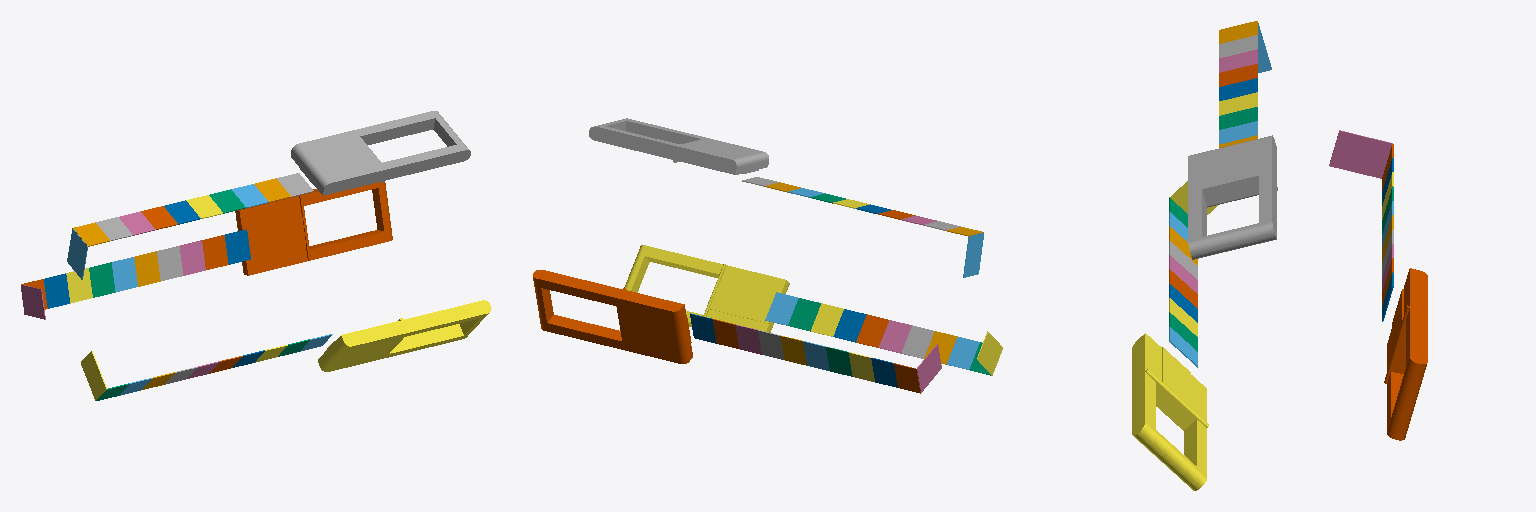
--- Render facts (derived) ---
Views: 3 orthographic renders of the robot side by side, from view 1: azimuth 30°, elevation 25°; view 2: azimuth 150°, elevation 25°; view 3: azimuth 270°, elevation 25°.
Robot: panda_and_gripper — 51 links, 50 joints (37 revolute, 4 prismatic, 9 fixed); root link world; default pose: joints at zero except 4 at the middle of their limits (panda_joint4 = -1.57, finger_1_prismatic_joint = 0.0915, finger_2_prismatic_joint = 0.0915, finger_3_prismatic_joint = 0.0915).
Links seen in each view (by area): view 1: finger_3, finger_2, finger_1, finger_2_segment_link_3, finger_2_segment_link_5, finger_2_segment_link_7, finger_2_segment_link_1, finger_2_segment_link_9, finger_2_segment_link_2, finger_2_segment_link_4, finger_2_segment_link_6, finger_2_segment_link_8 (+3 smaller); view 2: finger_2, finger_1, finger_3, finger_1_segment_link_1, finger_1_segment_link_3, finger_1_segment_link_5, finger_1_segment_link_7, finger_1_segment_link_2, finger_1_segment_link_6, finger_1_segment_link_4, finger_1_segment_link_9, finger_3_finger_hook_link (+13 smaller); view 3: finger_3, finger_1, finger_2, finger_2_finger_hook_link, finger_3_segment_link_5, finger_3_segment_link_8, finger_3_segment_link_4, finger_3_segment_link_9, finger_3_segment_link_3, finger_3_segment_link_6, finger_3_segment_link_7, finger_3_segment_link_10.
Boxes of the visible links, x1,y1,x2,y2 form: finger_3: (291,111,470,195); finger_2: (235,182,392,275); finger_1: (318,300,491,371); finger_2_segment_link_3: (179,240,205,275); finger_2_segment_link_5: (134,251,160,286); finger_2_segment_link_7: (89,262,115,297); finger_2_segment_link_1: (225,229,250,264); finger_2_segment_link_9: (44,273,69,308); finger_2_segment_link_2: (202,235,228,269); finger_2_segment_link_4: (157,246,182,280); finger_2_segment_link_6: (112,257,137,291); finger_2_segment_link_8: (66,268,92,303); finger_2: (533,270,692,363); finger_1: (624,245,789,332); finger_3: (589,118,768,174); finger_1_segment_link_1: (765,292,798,325); finger_1_segment_link_3: (811,303,843,336); finger_1_segment_link_5: (856,314,888,347); finger_1_segment_link_7: (901,325,934,358); finger_1_segment_link_2: (788,298,820,331); finger_1_segment_link_6: (879,320,911,353); finger_1_segment_link_4: (833,309,866,342); finger_1_segment_link_9: (947,337,979,369); finger_3_finger_hook_link: (963,233,983,277); finger_3: (1188,135,1277,259); finger_1: (1132,333,1208,490); finger_2: (1384,268,1427,440); finger_2_finger_hook_link: (1329,130,1392,178); finger_3_segment_link_5: (1219,92,1257,115); finger_3_segment_link_8: (1219,49,1257,72); finger_3_segment_link_4: (1219,107,1257,129); finger_3_segment_link_9: (1219,35,1257,57); finger_3_segment_link_3: (1219,121,1257,143); finger_3_segment_link_6: (1219,78,1257,100); finger_3_segment_link_7: (1219,64,1257,86); finger_3_segment_link_10: (1219,21,1257,43).
Bounding box of the posed robot: 0.3875 × 0.2047 × 0.205 m (x, y, z).
Meshes: 12 distinct files referenced, 3 mesh visuals loaded (1 binary STL); not drawn: 13 (reference not matched to a file when rendering).

URDF robot description (panda_and_gripper):
<?xml version="1.0" ?>
<!-- =================================================================================== -->
<!-- |    This document was autogenerated by xacro from xacro/panda_and_gripper_mujoco.urdf.xacro | -->
<!-- |    EDITING THIS FILE BY HAND IS NOT RECOMMENDED                                 | -->
<!-- =================================================================================== -->
<robot name="panda_and_gripper">
  <mujoco>
    <compiler balanceinertia="true" discardvisual="false" meshdir="./meshes_mujoco/"/>
    <size nconmax="800" njmax="3400"/>
  </mujoco>
  <!-- rest of file should be identical to panda_and_gripper.urdf.xacro -->
  <!-- <link name="world" />
    <xacro:unless value="${not connected_to}">
      <joint name="virtual_joint" type="fixed">
        <parent link="${connected_to}"/>
        <child link="${arm_id}_link0"/>
        <origin rpy="${rpy}" xyz="${xyz}"/>
        <dynamics damping="1.0"/>
      </joint>
    </xacro:unless> -->
  <!-- PARAMETERS TO SET BY HAND -->
  <!-- END OF PARAMETERS TO SET BY HAND -->
  <!-- original working mesh links -->
  <!--    <xacro:arm_link number="0" visual_mesh="package://${mesh_folder}/visual/link0.dae"-->
  <!--      collision_mesh="package://${mesh_folder}/collision/link0.stl" mass="3.06"/>-->
  <!--    <xacro:arm_link number="1" visual_mesh="package://${mesh_folder}/visual/link1.dae"-->
  <!--      collision_mesh="package://${mesh_folder}/collision/link1.stl" mass="2.34"/>-->
  <!--    <xacro:arm_link number="2" visual_mesh="package://${mesh_folder}/visual/link2.dae"-->
  <!--      collision_mesh="package://${mesh_folder}/collision/link2.stl" mass="2.36"/>-->
  <!--    <xacro:arm_link number="3" visual_mesh="package://${mesh_folder}/visual/link3.dae"-->
  <!--      collision_mesh="package://${mesh_folder}/collision/link3.stl" mass="2.38"/>-->
  <!--    <xacro:arm_link number="4" visual_mesh="package://${mesh_folder}/visual/link4.dae"-->
  <!--      collision_mesh="package://${mesh_folder}/collision/link4.stl" mass="2.43"/>-->
  <!--    <xacro:arm_link number="5" visual_mesh="package://${mesh_folder}/visual/link5.dae"-->
  <!--      collision_mesh="package://${mesh_folder}/collision/link5.stl" mass="3.5"/>-->
  <!--    <xacro:arm_link number="6" visual_mesh="package://${mesh_folder}/visual/link6.dae"-->
  <!--      collision_mesh="package://${mesh_folder}/collision/link6.stl" mass="1.47"/>-->
  <!--    <xacro:arm_link number="7" visual_mesh="package://${mesh_folder}/visual/link7.dae"-->
  <!--      collision_mesh="package://${mesh_folder}/collision/link7.stl" mass="0.45"/>-->
  <!--     <xacro:arm_link number="8"/>-->
  <link name="panda_link0">
    <visual>
      <geometry>
        <mesh filename="package://gripper_description/meshes_panda/panda visual link0.stl"/>
      </geometry>
    </visual>
    <collision>
      <geometry>
        <mesh filename="package://gripper_description/meshes_panda/panda collision link0.stl"/>
      </geometry>
    </collision>
    <inertial>
      <origin rpy="0 0 0" xyz="0 0 0"/>
      <mass value="3.06"/>
      <inertia ixx="0.3" ixy="0.0" ixz="0.0" iyy="0.3" iyz="0.0" izz="0.3"/>
    </inertial>
  </link>
  <link name="panda_link1">
    <visual>
      <geometry>
        <mesh filename="package://gripper_description/meshes_panda/panda visual link1.stl"/>
      </geometry>
    </visual>
    <collision>
      <geometry>
        <mesh filename="package://gripper_description/meshes_panda/panda collision link1.stl"/>
      </geometry>
    </collision>
    <inertial>
      <origin rpy="0 0 0" xyz="0 0 0"/>
      <mass value="2.34"/>
      <inertia ixx="7.0337e-01" ixy="-1.3900e-04" ixz="6.7720e-03" iyy="7.0661e-01" iyz="1.9169e-02" izz="9.1170e-03"/>
    </inertial>
  </link>
  <link name="panda_link2">
    <visual>
      <geometry>
        <mesh filename="package://gripper_description/meshes_panda/panda visual link2.stl"/>
      </geometry>
    </visual>
    <collision>
      <geometry>
        <mesh filename="package://gripper_description/meshes_panda/panda collision link2.stl"/>
      </geometry>
    </collision>
    <inertial>
      <origin rpy="0 0 0" xyz="0 0 0"/>
      <mass value="2.36"/>
      <inertia ixx="7.9620e-03" ixy="-3.9250e-03" ixz="1.0254e-02" iyy="2.8110e-02" iyz="7.0400e-04" izz="2.5995e-02"/>
    </inertial>
  </link>
  <link name="panda_link3">
    <visual>
      <geometry>
        <mesh filename="package://gripper_description/meshes_panda/panda visual link3.stl"/>
      </geometry>
    </visual>
    <collision>
      <geometry>
        <mesh filename="package://gripper_description/meshes_panda/panda collision link3.stl"/>
      </geometry>
    </collision>
    <inertial>
      <origin rpy="0 0 0" xyz="0 0 0"/>
      <mass value="2.38"/>
      <inertia ixx="3.7242e-02" ixy="-4.7610e-03" ixz="-1.1396e-02" iyy="3.6155e-02" iyz="-1.2805e-02" izz="1.0830e-02"/>
    </inertial>
  </link>
  <link name="panda_link4">
    <visual>
      <geometry>
        <mesh filename="package://gripper_description/meshes_panda/panda visual link4.stl"/>
      </geometry>
    </visual>
    <collision>
      <geometry>
        <mesh filename="package://gripper_description/meshes_panda/panda collision link4.stl"/>
      </geometry>
    </collision>
    <inertial>
      <origin rpy="0 0 0" xyz="0 0 0"/>
      <mass value="2.43"/>
      <inertia ixx="2.5853e-02" ixy="7.7960e-03" ixz="-1.3320e-03" iyy="1.9552e-02" iyz="8.6410e-03" izz="2.8323e-02"/>
    </inertial>
  </link>
  <link name="panda_link5">
    <visual>
      <geometry>
        <mesh filename="package://gripper_description/meshes_panda/panda visual link5.stl"/>
      </geometry>
    </visual>
    <collision>
      <geometry>
        <mesh filename="package://gripper_description/meshes_panda/panda collision link5.stl"/>
      </geometry>
    </collision>
    <inertial>
      <origin rpy="0 0 0" xyz="0 0 0"/>
      <mass value="3.5"/>
      <inertia ixx="3.5549e-02" ixy="-2.1170e-03" ixz="-4.0370e-03" iyy="2.9474e-02" iyz="2.2900e-04" izz="8.6270e-03"/>
    </inertial>
  </link>
  <link name="panda_link6">
    <visual>
      <geometry>
        <mesh filename="package://gripper_description/meshes_panda/panda visual link6.stl"/>
      </geometry>
    </visual>
    <collision>
      <geometry>
        <mesh filename="package://gripper_description/meshes_panda/panda collision link6.stl"/>
      </geometry>
    </collision>
    <inertial>
      <origin rpy="0 0 0" xyz="0 0 0"/>
      <mass value="1.47"/>
      <inertia ixx="1.9640e-03" ixy="1.0900e-04" ixz="-1.1580e-03" iyy="4.3540e-03" iyz="3.4100e-04" izz="5.4330e-03"/>
    </inertial>
  </link>
  <link name="panda_link7">
    <visual>
      <geometry>
        <mesh filename="package://gripper_description/meshes_panda/panda visual link7.stl"/>
      </geometry>
    </visual>
    <collision>
      <geometry>
        <mesh filename="package://gripper_description/meshes_panda/panda collision link7.stl"/>
      </geometry>
    </collision>
    <inertial>
      <origin rpy="0 0 0" xyz="0 0 0"/>
      <mass value="0.45"/>
      <inertia ixx="1.2516e-02" ixy="-4.2800e-04" ixz="-1.1960e-03" iyy="1.0027e-02" iyz="-7.4100e-04" izz="4.8150e-03"/>
    </inertial>
  </link>
  <link name="panda_link8">
    <inertial>
      <origin rpy="0 0 0" xyz="0 0 0"/>
      <mass value="0.0"/>
      <inertia ixx="1e-4" ixy="0.0" ixz="0.0" iyy="1e-4" iyz="0.0" izz="1e-4"/>
    </inertial>
  </link>
  <!-- joint6 limit lower = -0.0175 -->
  <joint name="panda_joint1" type="revolute">
    <safety_controller k_position="100.0" k_velocity="40.0" soft_lower_limit="-2.8973" soft_upper_limit="2.8973"/>
    <origin rpy="0 0 0" xyz="0 0 0.333"/>
    <parent link="panda_link0"/>
    <child link="panda_link1"/>
    <limit effort="87" lower="-2.8973" upper="2.8973" velocity="2.175"/>
    <axis xyz="0 0 1"/>
    <dynamics damping="1.0" friction="0.1"/>
  </joint>
  <joint name="panda_joint2" type="revolute">
    <safety_controller k_position="100.0" k_velocity="40.0" soft_lower_limit="-1.7628" soft_upper_limit="1.7628"/>
    <origin rpy="-1.5707963267948966 0 0" xyz="0 0 0"/>
    <parent link="panda_link1"/>
    <child link="panda_link2"/>
    <limit effort="87" lower="-1.7628" upper="1.7628" velocity="2.175"/>
    <axis xyz="0 0 1"/>
    <dynamics damping="1.0" friction="0.1"/>
  </joint>
  <joint name="panda_joint3" type="revolute">
    <safety_controller k_position="100.0" k_velocity="40.0" soft_lower_limit="-2.8973" soft_upper_limit="2.8973"/>
    <origin rpy="1.5707963267948966 0 0" xyz="0 -0.316 0"/>
    <parent link="panda_link2"/>
    <child link="panda_link3"/>
    <limit effort="87" lower="-2.8973" upper="2.8973" velocity="2.175"/>
    <axis xyz="0 0 1"/>
    <dynamics damping="1.0" friction="0.1"/>
  </joint>
  <joint name="panda_joint4" type="revolute">
    <safety_controller k_position="100.0" k_velocity="40.0" soft_lower_limit="-3.0718" soft_upper_limit="-0.0698"/>
    <origin rpy="1.5707963267948966 0 0" xyz="0.0825 0 0"/>
    <parent link="panda_link3"/>
    <child link="panda_link4"/>
    <limit effort="87" lower="-3.0718" upper="-0.0698" velocity="2.175"/>
    <axis xyz="0 0 1"/>
    <dynamics damping="1.0" friction="0.1"/>
  </joint>
  <joint name="panda_joint5" type="revolute">
    <safety_controller k_position="100.0" k_velocity="40.0" soft_lower_limit="-2.8973" soft_upper_limit="2.8973"/>
    <origin rpy="-1.5707963267948966 0 0" xyz="-0.0825 0.384 0"/>
    <parent link="panda_link4"/>
    <child link="panda_link5"/>
    <limit effort="12" lower="-2.8973" upper="2.8973" velocity="2.61"/>
    <axis xyz="0 0 1"/>
    <dynamics damping="1.0" friction="0.1"/>
  </joint>
  <joint name="panda_joint6" type="revolute">
    <safety_controller k_position="100.0" k_velocity="40.0" soft_lower_limit="-0.0175" soft_upper_limit="3.7525"/>
    <origin rpy="1.5707963267948966 0 0" xyz="0 0 0"/>
    <parent link="panda_link5"/>
    <child link="panda_link6"/>
    <limit effort="12" lower="-0.0175" upper="3.7525" velocity="2.61"/>
    <axis xyz="0 0 1"/>
    <dynamics damping="1.0" friction="0.1"/>
  </joint>
  <joint name="panda_joint7" type="revolute">
    <safety_controller k_position="100.0" k_velocity="40.0" soft_lower_limit="-2.8973" soft_upper_limit="2.8973"/>
    <origin rpy="1.5707963267948966 0 0" xyz="0.088 0 0"/>
    <parent link="panda_link6"/>
    <child link="panda_link7"/>
    <limit effort="12" lower="-2.8973" upper="2.8973" velocity="2.61"/>
    <axis xyz="0 0 1"/>
    <dynamics damping="1.0" friction="0.1"/>
  </joint>
  <joint name="panda_joint8" type="fixed">
    <origin rpy="0 0 0" xyz="0 0 0.107"/>
    <parent link="panda_link7"/>
    <child link="panda_link8"/>
    <axis xyz="0 0 0"/>
    <dynamics damping="1.0" friction="0.1"/>
  </joint>
  <gazebo reference="panda_link0">
    <material>Gazebo/White</material>
    <mu1>0.2</mu1>
    <mu2>0.2</mu2>
  </gazebo>
  <gazebo reference="panda_link1">
    <material>Gazebo/White</material>
    <mu1>0.2</mu1>
    <mu2>0.2</mu2>
  </gazebo>
  <gazebo reference="panda_link2">
    <material>Gazebo/White</material>
    <mu1>0.2</mu1>
    <mu2>0.2</mu2>
  </gazebo>
  <gazebo reference="panda_link3">
    <material>Gazebo/White</material>
    <mu1>0.2</mu1>
    <mu2>0.2</mu2>
  </gazebo>
  <gazebo reference="panda_link4">
    <material>Gazebo/White</material>
    <mu1>0.2</mu1>
    <mu2>0.2</mu2>
  </gazebo>
  <gazebo reference="panda_link5">
    <material>Gazebo/White</material>
    <mu1>0.2</mu1>
    <mu2>0.2</mu2>
  </gazebo>
  <gazebo reference="panda_link6">
    <material>Gazebo/White</material>
    <mu1>0.2</mu1>
    <mu2>0.2</mu2>
  </gazebo>
  <gazebo reference="gripper_base_link">
    <material>Gazebo/Grey</material>
    <mu1>0.2</mu1>
    <mu2>0.2</mu2>
  </gazebo>
  <gazebo reference="finger_1_intermediate">
    <material>Gazebo/Grey</material>
    <mu1>0.2</mu1>
    <mu2>0.2</mu2>
  </gazebo>
  <gazebo reference="finger_1">
    <material>Gazebo/Grey</material>
    <mu1>0.2</mu1>
    <mu2>0.2</mu2>
  </gazebo>
  <gazebo reference="finger_2_intermediate">
    <material>Gazebo/Grey</material>
    <mu1>0.2</mu1>
    <mu2>0.2</mu2>
  </gazebo>
  <gazebo reference="finger_2">
    <material>Gazebo/Grey</material>
    <mu1>0.2</mu1>
    <mu2>0.2</mu2>
  </gazebo>
  <gazebo reference="finger_3_intermediate">
    <material>Gazebo/Grey</material>
    <mu1>0.2</mu1>
    <mu2>0.2</mu2>
  </gazebo>
  <gazebo reference="finger_3">
    <material>Gazebo/Grey</material>
    <mu1>0.2</mu1>
    <mu2>0.2</mu2>
  </gazebo>
  <gazebo reference="palm">
    <material>Gazebo/Grey</material>
    <mu1>0.2</mu1>
    <mu2>0.2</mu2>
  </gazebo>
  <transmission name="panda_tran_1">
    <type>transmission_interface/SimpleTransmission</type>
    <joint name="panda_joint1">
      <!-- <hardwareInterface>hardware_interface/EffortJointInterface</hardwareInterface> -->
      <hardwareInterface>hardware_interface/PositionJointInterface</hardwareInterface>
    </joint>
    <actuator name="panda_motor_1">
      <!-- <hardwareInterface>hardware_interface/EffortJointInterface</hardwareInterface> -->
      <hardwareInterface>hardware_interface/PositionJointInterface</hardwareInterface>
      <mechanicalReduction>1</mechanicalReduction>
    </actuator>
  </transmission>
  <transmission name="panda_tran_2">
    <type>transmission_interface/SimpleTransmission</type>
    <joint name="panda_joint2">
      <!-- <hardwareInterface>hardware_interface/EffortJointInterface</hardwareInterface> -->
      <hardwareInterface>hardware_interface/PositionJointInterface</hardwareInterface>
    </joint>
    <actuator name="panda_motor_2">
      <!-- <hardwareInterface>hardware_interface/EffortJointInterface</hardwareInterface> -->
      <hardwareInterface>hardware_interface/PositionJointInterface</hardwareInterface>
      <mechanicalReduction>1</mechanicalReduction>
    </actuator>
  </transmission>
  <transmission name="panda_tran_3">
    <type>transmission_interface/SimpleTransmission</type>
    <joint name="panda_joint3">
      <!-- <hardwareInterface>hardware_interface/EffortJointInterface</hardwareInterface> -->
      <hardwareInterface>hardware_interface/PositionJointInterface</hardwareInterface>
    </joint>
    <actuator name="panda_motor_3">
      <!-- <hardwareInterface>hardware_interface/EffortJointInterface</hardwareInterface> -->
      <hardwareInterface>hardware_interface/PositionJointInterface</hardwareInterface>
      <mechanicalReduction>1</mechanicalReduction>
    </actuator>
  </transmission>
  <transmission name="panda_tran_4">
    <type>transmission_interface/SimpleTransmission</type>
    <joint name="panda_joint4">
      <!-- <hardwareInterface>hardware_interface/EffortJointInterface</hardwareInterface> -->
      <hardwareInterface>hardware_interface/PositionJointInterface</hardwareInterface>
    </joint>
    <actuator name="panda_motor_4">
      <!-- <hardwareInterface>hardware_interface/EffortJointInterface</hardwareInterface> -->
      <hardwareInterface>hardware_interface/PositionJointInterface</hardwareInterface>
      <mechanicalReduction>1</mechanicalReduction>
    </actuator>
  </transmission>
  <transmission name="panda_tran_5">
    <type>transmission_interface/SimpleTransmission</type>
    <joint name="panda_joint5">
      <!-- <hardwareInterface>hardware_interface/EffortJointInterface</hardwareInterface> -->
      <hardwareInterface>hardware_interface/PositionJointInterface</hardwareInterface>
    </joint>
    <actuator name="panda_motor_5">
      <!-- <hardwareInterface>hardware_interface/EffortJointInterface</hardwareInterface> -->
      <hardwareInterface>hardware_interface/PositionJointInterface</hardwareInterface>
      <mechanicalReduction>1</mechanicalReduction>
    </actuator>
  </transmission>
  <transmission name="panda_tran_6">
    <type>transmission_interface/SimpleTransmission</type>
    <joint name="panda_joint6">
      <!-- <hardwareInterface>hardware_interface/EffortJointInterface</hardwareInterface> -->
      <hardwareInterface>hardware_interface/PositionJointInterface</hardwareInterface>
    </joint>
    <actuator name="panda_motor_6">
      <!-- <hardwareInterface>hardware_interface/EffortJointInterface</hardwareInterface> -->
      <hardwareInterface>hardware_interface/PositionJointInterface</hardwareInterface>
      <mechanicalReduction>1</mechanicalReduction>
    </actuator>
  </transmission>
  <transmission name="panda_tran_7">
    <type>transmission_interface/SimpleTransmission</type>
    <joint name="panda_joint7">
      <!-- <hardwareInterface>hardware_interface/EffortJointInterface</hardwareInterface> -->
      <hardwareInterface>hardware_interface/PositionJointInterface</hardwareInterface>
    </joint>
    <actuator name="panda_motor_7">
      <!-- <hardwareInterface>hardware_interface/EffortJointInterface</hardwareInterface> -->
      <hardwareInterface>hardware_interface/PositionJointInterface</hardwareInterface>
      <mechanicalReduction>1</mechanicalReduction>
    </actuator>
  </transmission>
  <transmission name="panda_tran_8">
    <type>transmission_interface/SimpleTransmission</type>
    <joint name="finger_1_revolute_joint">
      <!-- <hardwareInterface>hardware_interface/EffortJointInterface</hardwareInterface> -->
      <hardwareInterface>hardware_interface/PositionJointInterface</hardwareInterface>
    </joint>
    <actuator name="panda_motor_8">
      <!-- <hardwareInterface>hardware_interface/EffortJointInterface</hardwareInterface> -->
      <hardwareInterface>hardware_interface/PositionJointInterface</hardwareInterface>
      <mechanicalReduction>1</mechanicalReduction>
    </actuator>
  </transmission>
  <transmission name="panda_tran_9">
    <type>transmission_interface/SimpleTransmission</type>
    <joint name="finger_1_prismatic_joint">
      <!-- <hardwareInterface>hardware_interface/EffortJointInterface</hardwareInterface> -->
      <hardwareInterface>hardware_interface/PositionJointInterface</hardwareInterface>
    </joint>
    <actuator name="panda_motor_9">
      <!-- <hardwareInterface>hardware_interface/EffortJointInterface</hardwareInterface> -->
      <hardwareInterface>hardware_interface/PositionJointInterface</hardwareInterface>
      <mechanicalReduction>1</mechanicalReduction>
    </actuator>
  </transmission>
  <transmission name="panda_tran_10">
    <type>transmission_interface/SimpleTransmission</type>
    <joint name="finger_2_revolute_joint">
      <!-- <hardwareInterface>hardware_interface/EffortJointInterface</hardwareInterface> -->
      <hardwareInterface>hardware_interface/PositionJointInterface</hardwareInterface>
    </joint>
    <actuator name="panda_motor_10">
      <!-- <hardwareInterface>hardware_interface/EffortJointInterface</hardwareInterface> -->
      <hardwareInterface>hardware_interface/PositionJointInterface</hardwareInterface>
      <mechanicalReduction>1</mechanicalReduction>
    </actuator>
  </transmission>
  <transmission name="panda_tran_11">
    <type>transmission_interface/SimpleTransmission</type>
    <joint name="finger_2_prismatic_joint">
      <!-- <hardwareInterface>hardware_interface/EffortJointInterface</hardwareInterface> -->
      <hardwareInterface>hardware_interface/PositionJointInterface</hardwareInterface>
    </joint>
    <actuator name="panda_motor_11">
      <!-- <hardwareInterface>hardware_interface/EffortJointInterface</hardwareInterface> -->
      <hardwareInterface>hardware_interface/PositionJointInterface</hardwareInterface>
      <mechanicalReduction>1</mechanicalReduction>
    </actuator>
  </transmission>
  <transmission name="panda_tran_12">
    <type>transmission_interface/SimpleTransmission</type>
    <joint name="finger_3_revolute_joint">
      <!-- <hardwareInterface>hardware_interface/EffortJointInterface</hardwareInterface> -->
      <hardwareInterface>hardware_interface/PositionJointInterface</hardwareInterface>
    </joint>
    <actuator name="panda_motor_12">
      <!-- <hardwareInterface>hardware_interface/EffortJointInterface</hardwareInterface> -->
      <hardwareInterface>hardware_interface/PositionJointInterface</hardwareInterface>
      <mechanicalReduction>1</mechanicalReduction>
    </actuator>
  </transmission>
  <transmission name="panda_tran_13">
    <type>transmission_interface/SimpleTransmission</type>
    <joint name="finger_3_prismatic_joint">
      <!-- <hardwareInterface>hardware_interface/EffortJointInterface</hardwareInterface> -->
      <hardwareInterface>hardware_interface/PositionJointInterface</hardwareInterface>
    </joint>
    <actuator name="panda_motor_13">
      <!-- <hardwareInterface>hardware_interface/EffortJointInterface</hardwareInterface> -->
      <hardwareInterface>hardware_interface/PositionJointInterface</hardwareInterface>
      <mechanicalReduction>1</mechanicalReduction>
    </actuator>
  </transmission>
  <transmission name="panda_tran_14">
    <type>transmission_interface/SimpleTransmission</type>
    <joint name="palm_prismatic_joint">
      <!-- <hardwareInterface>hardware_interface/EffortJointInterface</hardwareInterface> -->
      <hardwareInterface>hardware_interface/PositionJointInterface</hardwareInterface>
    </joint>
    <actuator name="panda_motor_14">
      <!-- <hardwareInterface>hardware_interface/EffortJointInterface</hardwareInterface> -->
      <hardwareInterface>hardware_interface/PositionJointInterface</hardwareInterface>
      <mechanicalReduction>1</mechanicalReduction>
    </actuator>
  </transmission>
  <gazebo>
    <plugin filename="libgazebo_ros_control.so" name="gazebo_ros_control">
      <!--            	<robotNamespace>/gripper_controller</robotNamespace>-->
    </plugin>
  </gazebo>
  <!-- PARAMETERS TO BE SET BY HAND -->
  <!-- END OF PARAMETERS TO BE SET BY HAND -->
  <!-- PARAMETERS TO BE SET BY HAND -->
  <!-- END OF PARAMETER TO BE SET BY HAND -->
  <!-- BASE LINK -->
  <link name="gripper_base_link">
    <inertial>
      <mass value="1.5"/>
      <origin rpy="3.141592653589793 0 0" xyz="0 0 0.025"/>
      <inertia ixx="9.95e-3" ixy="2.73e-6" ixz="-14.32e-6" iyy="10.08e-3" iyz="121.38e-6" izz="5.13e-3"/>
    </inertial>
    <visual>
      <geometry>
        <mesh filename="package://gripper_description/meshes/main body visual.STL"/>
      </geometry>
    </visual>
    <collision>
      <geometry>
        <!--          <mesh filename="package://gripper_description/meshes/main body collision.STL"/>-->
        <cylinder length="0.1" radius="0.03"/>
      </geometry>
    </collision>
  </link>
  <!-- Intermediate link for prismatic joint -->
  <link name="finger_1_intermediate">
    <inertial>
      <mass value="0.1"/>
      <origin rpy="0 0 0" xyz="0 0 0"/>
      <inertia ixx="55.59e-6" ixy="-47.23e-6" ixz="1.16e-6" iyy="146.36e-6" iyz="1.00e-6" izz="154.18e-6"/>
    </inertial>
    <visual>
      <geometry>
        <mesh filename="package://gripper_description/meshes/nut visual.STL"/>
      </geometry>
    </visual>
    <collision>
      <geometry>
        <mesh filename="package://gripper_description/meshes/nut collision.STL"/>
      </geometry>
    </collision>
  </link>
  <!-- Main finger link -->
  <link name="finger_1">
    <inertial>
      <mass value="0.1"/>
      <origin rpy="0 0 0" xyz="0 0 0"/>
      <inertia ixx="55.59e-6" ixy="-47.23e-6" ixz="1.16e-6" iyy="146.36e-6" iyz="1.00e-6" izz="154.18e-6"/>
    </inertial>
    <visual>
      <geometry>
        <mesh filename="package://gripper_description/meshes/platform only visual.STL"/>
      </geometry>
    </visual>
    <collision>
      <geometry>
        <mesh filename="package://gripper_description/meshes/platform only collision.STL"/>
      </geometry>
    </collision>
  </link>
  <!-- Prismatic joint -->
  <joint name="finger_1_prismatic_joint" type="prismatic">
    <axis rpy="0 0 0" xyz="0 1 0"/>
    <parent link="gripper_base_link"/>
    <child link="finger_1_intermediate"/>
    <origin rpy="4.71238898038469                    4.71238898038469                    1.5707963267948966" xyz="0.0                    0.0                    0"/>
    <limit effort="40.0" lower="0.049" upper="0.134" velocity="0.015"/>
    <dynamics damping="1.0"/>
  </joint>
  <!-- Revolute joint -->
  <joint name="finger_1_revolute_joint" type="revolute">
    <axis rpy="0 0 0" xyz="0 0 1"/>
    <parent link="finger_1_intermediate"/>
    <child link="finger_1"/>
    <origin rpy="0 0 0.0" xyz="0 0 0"/>
    <limit effort="40.0" lower="-0.7" upper="0.7" velocity="0.1"/>
    <dynamics damping="1.0"/>
  </joint>
  <!-- Intermediate link for prismatic joint -->
  <link name="finger_2_intermediate">
    <inertial>
      <mass value="0.1"/>
      <origin rpy="0 0 0" xyz="0 0 0"/>
      <inertia ixx="55.59e-6" ixy="-47.23e-6" ixz="1.16e-6" iyy="146.36e-6" iyz="1.00e-6" izz="154.18e-6"/>
    </inertial>
    <visual>
      <geometry>
        <mesh filename="package://gripper_description/meshes/nut visual.STL"/>
      </geometry>
    </visual>
    <collision>
      <geometry>
        <mesh filename="package://gripper_description/meshes/nut collision.STL"/>
      </geometry>
    </collision>
  </link>
  <!-- Main finger link -->
  <link name="finger_2">
    <inertial>
      <mass value="0.1"/>
      <origin rpy="0 0 0" xyz="0 0 0"/>
      <inertia ixx="55.59e-6" ixy="-47.23e-6" ixz="1.16e-6" iyy="146.36e-6" iyz="1.00e-6" izz="154.18e-6"/>
    </inertial>
    <visual>
      <geometry>
        <mesh filename="package://gripper_description/meshes/platform only visual.STL"/>
      </geometry>
    </visual>
    <collision>
      <geometry>
        <mesh filename="package://gripper_description/meshes/platform only collision.STL"/>
      </geometry>
    </collision>
  </link>
  <!-- Prismatic joint -->
  <joint name="finger_2_prismatic_joint" type="prismatic">
    <axis rpy="0 0 0" xyz="0 1 0"/>
    <parent link="gripper_base_link"/>
    <child link="finger_2_intermediate"/>
    <origin rpy="4.71238898038469                    4.71238898038469                    -0.5235987755982987" xyz="0.0                    -0.0                    0"/>
    <limit effort="40.0" lower="0.049" upper="0.134" velocity="0.015"/>
    <dynamics damping="1.0"/>
  </joint>
  <!-- Revolute joint -->
  <joint name="finger_2_revolute_joint" type="revolute">
    <axis rpy="0 0 0" xyz="0 0 1"/>
    <parent link="finger_2_intermediate"/>
    <child link="finger_2"/>
    <origin rpy="0 0 0.0" xyz="0 0 0"/>
    <limit effort="40.0" lower="-0.7" upper="0.7" velocity="0.1"/>
    <dynamics damping="1.0"/>
  </joint>
  <!-- Intermediate link for prismatic joint -->
  <link name="finger_3_intermediate">
    <inertial>
      <mass value="0.1"/>
      <origin rpy="0 0 0" xyz="0 0 0"/>
      <inertia ixx="55.59e-6" ixy="-47.23e-6" ixz="1.16e-6" iyy="146.36e-6" iyz="1.00e-6" izz="154.18e-6"/>
    </inertial>
    <visual>
      <geometry>
        <mesh filename="package://gripper_description/meshes/nut visual.STL"/>
      </geometry>
    </visual>
    <collision>
      <geometry>
        <mesh filename="package://gripper_description/meshes/nut collision.STL"/>
      </geometry>
    </collision>
  </link>
  <!-- Main finger link -->
  <link name="finger_3">
    <inertial>
      <mass value="0.1"/>
      <origin rpy="0 0 0" xyz="0 0 0"/>
      <inertia ixx="55.59e-6" ixy="-47.23e-6" ixz="1.16e-6" iyy="146.36e-6" iyz="1.00e-6" izz="154.18e-6"/>
    </inertial>
    <visual>
      <geometry>
        <mesh filename="package://gripper_description/meshes/platform only visual.STL"/>
      </geometry>
    </visual>
    <collision>
      <geometry>
        <mesh filename="package://gripper_description/meshes/platform only collision.STL"/>
      </geometry>
    </collision>
  </link>
  <!-- Prismatic joint -->
  <joint name="finger_3_prismatic_joint" type="prismatic">
    <axis rpy="0 0 0" xyz="0 1 0"/>
    <parent link="gripper_base_link"/>
    <child link="finger_3_intermediate"/>
    <origin rpy="4.71238898038469                    4.71238898038469                    -2.617993877991494" xyz="-0.0                    -0.0                    0"/>
    <limit effort="40.0" lower="0.049" upper="0.134" velocity="0.015"/>
    <dynamics damping="1.0"/>
  </joint>
  <!-- Revolute joint -->
  <joint name="finger_3_revolute_joint" type="revolute">
    <axis rpy="0 0 0" xyz="0 0 1"/>
    <parent link="finger_3_intermediate"/>
    <child link="finger_3"/>
    <origin rpy="0 0 0.0" xyz="0 0 0"/>
    <limit effort="40.0" lower="-0.7" upper="0.7" velocity="0.1"/>
    <dynamics damping="1.0"/>
  </joint>
  <!-- PALM -->
  <link name="palm">
    <inertial>
      <mass value="0.05"/>
      <origin rpy="0 0 0" xyz="0 0 0"/>
      <inertia ixx="10.0e-6" ixy="0.0" ixz="0.0" iyy="10.0e-6" iyz="0.0" izz="10.0e-6"/>
    </inertial>
    <visual>
      <origin rpy="0 0 0" xyz="0 0 0"/>
      <geometry>
        <mesh filename="package://gripper_description/meshes/palm visual.STL"/>
      </geometry>
    </visual>
    <collision>
      <geometry>
        <mesh filename="package://gripper_description/meshes/palm collision.STL"/>
      </geometry>
    </collision>
  </link>
  <joint name="palm_prismatic_joint" type="prismatic">
    <axis rpy="0 0 0" xyz="1 0 0"/>
    <parent link="gripper_base_link"/>
    <child link="palm"/>
    <origin rpy="0 -1.5707963267948966 0" xyz="0 0 0"/>
    <limit effort="40.0" lower="0.0" upper="0.165" velocity="0.036"/>
    <dynamics damping="1.0"/>
  </joint>
  <!-- PARAMETERS TO BE SET BY HAND -->
  <!-- END OF PARAMETERS TO BE SET BY HAND -->
  <link name="finger_1_segment_link_1">
    <inertial>
      <mass value="0.006444241316270568"/>
      <inertia ixx="4.21458752285192e-07" ixy="0.00" ixz="0.00" iyy="1.1867124085923218e-06" iyz="0.00" izz="1.6073011882998174e-06"/>
    </inertial>
    <visual>
      <origin rpy="0 0 0" xyz="0.01175 0 0"/>
      <geometry>
        <box size="0.0235 0.028 0.0009"/>
      </geometry>
    </visual>
    <collision>
      <origin rpy="0 0 0" xyz="0.01175 0 0"/>
      <geometry>
        <box size="0.0235 0.028 0.0009"/>
      </geometry>
    </collision>
  </link>
  <gazebo reference="finger_1_segment_link_1">
    <material>Gazebo/Orange</material>
    <mu1>0.1</mu1>
    <mu2>0.1</mu2>
    <maxVel>0.0</maxVel>
    <minDepth>0.001</minDepth>
    <!-- <kp>100</kp>
        <kd>1</kd> -->
  </gazebo>
  <link name="finger_1_segment_link_2">
    <inertial>
      <mass value="0.006444241316270568"/>
      <inertia ixx="4.21458752285192e-07" ixy="0.00" ixz="0.00" iyy="1.1867124085923218e-06" iyz="0.00" izz="1.6073011882998174e-06"/>
    </inertial>
    <visual>
      <origin rpy="0 0 0" xyz="0.01175 0 0"/>
      <geometry>
        <box size="0.0235 0.028 0.0009"/>
      </geometry>
    </visual>
    <collision>
      <origin rpy="0 0 0" xyz="0.01175 0 0"/>
      <geometry>
        <box size="0.0235 0.028 0.0009"/>
      </geometry>
    </collision>
  </link>
  <gazebo reference="finger_1_segment_link_2">
    <material>Gazebo/Orange</material>
    <mu1>0.1</mu1>
    <mu2>0.1</mu2>
    <maxVel>0.0</maxVel>
    <minDepth>0.001</minDepth>
    <!-- <kp>100</kp>
        <kd>1</kd> -->
  </gazebo>
  <!-- bending joint -->
  <joint name="finger_1_segment_joint_1" type="revolute">
    <axis rpy="0 0 0" xyz="0 1 0"/>
    <parent link="finger_1_segment_link_1"/>
    <child link="finger_1_segment_link_2"/>
    <origin rpy="0 0 0" xyz="0.0235 0 0"/>
    <limit effort="1000.0" lower="-1.0" upper="1.0" velocity="1.0"/>
    <dynamics damping="0.01" friction="0.0"/>
  </joint>
  <gazebo reference="finger_1_segment_joint_1">
    <provideFeedback>1</provideFeedback>
    <springReference>0.0</springReference>
    <implicitSpringDamper>1</implicitSpringDamper>
    <springStiffness>3.0</springStiffness>
  </gazebo>
  <!-- set transmission for gazebo ROS controllers-->
  <transmission name="finger_1_segment_tran_1">
    <type>transmission_interface/SimpleTransmission</type>
    <joint name="finger_1_segment_joint_1">
      <hardwareInterface>hardware_interface/EffortJointInterface</hardwareInterface>
    </joint>
    <actuator name="finger_1_segment_motor_1">
      <hardwareInterface>hardware_interface/EffortJointInterface</hardwareInterface>
      <mechanicalReduction>1</mechanicalReduction>
    </actuator>
  </transmission>
  <link name="finger_1_segment_link_3">
    <inertial>
      <mass value="0.006444241316270568"/>
      <inertia ixx="4.21458752285192e-07" ixy="0.00" ixz="0.00" iyy="1.1867124085923218e-06" iyz="0.00" izz="1.6073011882998174e-06"/>
    </inertial>
    <visual>
      <origin rpy="0 0 0" xyz="0.01175 0 0"/>
      <geometry>
        <box size="0.0235 0.028 0.0009"/>
      </geometry>
    </visual>
    <collision>
      <origin rpy="0 0 0" xyz="0.01175 0 0"/>
      <geometry>
        <box size="0.0235 0.028 0.0009"/>
      </geometry>
    </collision>
  </link>
  <gazebo reference="finger_1_segment_link_3">
    <material>Gazebo/Orange</material>
    <mu1>0.1</mu1>
    <mu2>0.1</mu2>
    <maxVel>0.0</maxVel>
    <minDepth>0.001</minDepth>
    <!-- <kp>100</kp>
        <kd>1</kd> -->
  </gazebo>
  <!-- bending joint -->
  <joint name="finger_1_segment_joint_2" type="revolute">
    <axis rpy="0 0 0" xyz="0 1 0"/>
    <parent link="finger_1_segment_link_2"/>
    <child link="finger_1_segment_link_3"/>
    <origin rpy="0 0 0" xyz="0.0235 0 0"/>
    <limit effort="1000.0" lower="-1.0" upper="1.0" velocity="1.0"/>
    <dynamics damping="0.01" friction="0.0"/>
  </joint>
  <gazebo reference="finger_1_segment_joint_2">
    <provideFeedback>1</provideFeedback>
    <springReference>0.0</springReference>
    <implicitSpringDamper>1</implicitSpringDamper>
    <springStiffness>3.0</springStiffness>
  </gazebo>
  <!-- set transmission for gazebo ROS controllers-->
  <transmission name="finger_1_segment_tran_2">
    <type>transmission_interface/SimpleTransmission</type>
    <joint name="finger_1_segment_joint_2">
      <hardwareInterface>hardware_interface/EffortJointInterface</hardwareInterface>
    </joint>
    <actuator name="finger_1_segment_motor_2">
      <hardwareInterface>hardware_interface/EffortJointInterface</hardwareInterface>
      <mechanicalReduction>1</mechanicalReduction>
    </actuator>
  </transmission>
  <link name="finger_1_segment_link_4">
    <inertial>
      <mass value="0.006444241316270568"/>
      <inertia ixx="4.21458752285192e-07" ixy="0.00" ixz="0.00" iyy="1.1867124085923218e-06" iyz="0.00" izz="1.6073011882998174e-06"/>
    </inertial>
    <visual>
      <origin rpy="0 0 0" xyz="0.01175 0 0"/>
      <geometry>
        <box size="0.0235 0.028 0.0009"/>
      </geometry>
    </visual>
    <collision>
      <origin rpy="0 0 0" xyz="0.01175 0 0"/>
      <geometry>
        <box size="0.0235 0.028 0.0009"/>
      </geometry>
    </collision>
  </link>
  <gazebo reference="finger_1_segment_link_4">
    <material>Gazebo/Orange</material>
    <mu1>0.1</mu1>
    <mu2>0.1</mu2>
    <maxVel>0.0</maxVel>
    <minDepth>0.001</minDepth>
    <!-- <kp>100</kp>
        <kd>1</kd> -->
  </gazebo>
  <!-- bending joint -->
  <joint name="finger_1_segment_joint_3" type="revolute">
    <axis rpy="0 0 0" xyz="0 1 0"/>
    <parent link="finger_1_segment_link_3"/>
    <child link="finger_1_segment_link_4"/>
    <origin rpy="0 0 0" xyz="0.0235 0 0"/>
    <limit effort="1000.0" lower="-1.0" upper="1.0" velocity="1.0"/>
    <dynamics damping="0.01" friction="0.0"/>
  </joint>
  <gazebo reference="finger_1_segment_joint_3">
    <provideFeedback>1</provideFeedback>
    <springReference>0.0</springReference>
    <implicitSpringDamper>1</implicitSpringDamper>
    <springStiffness>3.0</springStiffness>
  </gazebo>
  <!-- set transmission for gazebo ROS controllers-->
  <transmission name="finger_1_segment_tran_3">
    <type>transmission_interface/SimpleTransmission</type>
    <joint name="finger_1_segment_joint_3">
      <hardwareInterface>hardware_interface/EffortJointInterface</hardwareInterface>
    </joint>
    <actuator name="finger_1_segment_motor_3">
      <hardwareInterface>hardware_interface/EffortJointInterface</hardwareInterface>
      <mechanicalReduction>1</mechanicalReduction>
    </actuator>
  </transmission>
  <link name="finger_1_segment_link_5">
    <inertial>
      <mass value="0.006444241316270568"/>
      <inertia ixx="4.21458752285192e-07" ixy="0.00" ixz="0.00" iyy="1.1867124085923218e-06" iyz="0.00" izz="1.6073011882998174e-06"/>
    </inertial>
    <visual>
      <origin rpy="0 0 0" xyz="0.01175 0 0"/>
      <geometry>
        <box size="0.0235 0.028 0.0009"/>
      </geometry>
    </visual>
    <collision>
      <origin rpy="0 0 0" xyz="0.01175 0 0"/>
      <geometry>
        <box size="0.0235 0.028 0.0009"/>
      </geometry>
    </collision>
  </link>
  <gazebo reference="finger_1_segment_link_5">
    <material>Gazebo/Orange</material>
    <mu1>0.1</mu1>
    <mu2>0.1</mu2>
    <maxVel>0.0</maxVel>
    <minDepth>0.001</minDepth>
    <!-- <kp>100</kp>
        <kd>1</kd> -->
  </gazebo>
  <!-- bending joint -->
  <joint name="finger_1_segment_joint_4" type="revolute">
    <axis rpy="0 0 0" xyz="0 1 0"/>
    <parent link="finger_1_segment_link_4"/>
    <child link="finger_1_segment_link_5"/>
    <origin rpy="0 0 0" xyz="0.0235 0 0"/>
    <limit effort="1000.0" lower="-1.0" upper="1.0" velocity="1.0"/>
    <dynamics damping="0.01" friction="0.0"/>
  </joint>
  <gazebo reference="finger_1_segment_joint_4">
    <provideFeedback>1</provideFeedback>
    <springReference>0.0</springReference>
    <implicitSpringDamper>1</implicitSpringDamper>
    <springStiffness>3.0</springStiffness>
  </gazebo>
  <!-- set transmission for gazebo ROS controllers-->
  <transmission name="finger_1_segment_tran_4">
    <type>transmission_interface/SimpleTransmission</type>
    <joint name="finger_1_segment_joint_4">
      <hardwareInterface>hardware_interface/EffortJointInterface</hardwareInterface>
    </joint>
    <actuator name="finger_1_segment_motor_4">
      <hardwareInterface>hardware_interface/EffortJointInterface</hardwareInterface>
      <mechanicalReduction>1</mechanicalReduction>
    </actuator>
  </transmission>
  <link name="finger_1_segment_link_6">
    <inertial>
      <mass value="0.006444241316270568"/>
      <inertia ixx="4.21458752285192e-07" ixy="0.00" ixz="0.00" iyy="1.1867124085923218e-06" iyz="0.00" izz="1.6073011882998174e-06"/>
    </inertial>
    <visual>
      <origin rpy="0 0 0" xyz="0.01175 0 0"/>
      <geometry>
        <box size="0.0235 0.028 0.0009"/>
      </geometry>
    </visual>
    <collision>
      <origin rpy="0 0 0" xyz="0.01175 0 0"/>
      <geometry>
        <box size="0.0235 0.028 0.0009"/>
      </geometry>
    </collision>
  </link>
  <gazebo reference="finger_1_segment_link_6">
    <material>Gazebo/Orange</material>
    <mu1>0.1</mu1>
    <mu2>0.1</mu2>
    <maxVel>0.0</maxVel>
    <minDepth>0.001</minDepth>
    <!-- <kp>100</kp>
        <kd>1</kd> -->
  </gazebo>
  <!-- bending joint -->
  <joint name="finger_1_segment_joint_5" type="revolute">
    <axis rpy="0 0 0" xyz="0 1 0"/>
    <parent link="finger_1_segment_link_5"/>
    <child link="finger_1_segment_link_6"/>
    <origin rpy="0 0 0" xyz="0.0235 0 0"/>
    <limit effort="1000.0" lower="-1.0" upper="1.0" velocity="1.0"/>
    <dynamics damping="0.01" friction="0.0"/>
  </joint>
  <gazebo reference="finger_1_segment_joint_5">
    <provideFeedback>1</provideFeedback>
    <springReference>0.0</springReference>
    <implicitSpringDamper>1</implicitSpringDamper>
    <springStiffness>3.0</springStiffness>
  </gazebo>
  <!-- set transmission for gazebo ROS controllers-->
  <transmission name="finger_1_segment_tran_5">
    <type>transmission_interface/SimpleTransmission</type>
    <joint name="finger_1_segment_joint_5">
      <hardwareInterface>hardware_interface/EffortJointInterface</hardwareInterface>
    </joint>
    <actuator name="finger_1_segment_motor_5">
      <hardwareInterface>hardware_interface/EffortJointInterface</hardwareInterface>
      <mechanicalReduction>1</mechanicalReduction>
    </actuator>
  </transmission>
  <link name="finger_1_segment_link_7">
    <inertial>
      <mass value="0.006444241316270568"/>
      <inertia ixx="4.21458752285192e-07" ixy="0.00" ixz="0.00" iyy="1.1867124085923218e-06" iyz="0.00" izz="1.6073011882998174e-06"/>
    </inertial>
    <visual>
      <origin rpy="0 0 0" xyz="0.01175 0 0"/>
      <geometry>
        <box size="0.0235 0.028 0.0009"/>
      </geometry>
    </visual>
    <collision>
      <origin rpy="0 0 0" xyz="0.01175 0 0"/>
      <geometry>
        <box size="0.0235 0.028 0.0009"/>
      </geometry>
    </collision>
  </link>
  <gazebo reference="finger_1_segment_link_7">
    <material>Gazebo/Orange</material>
    <mu1>0.1</mu1>
    <mu2>0.1</mu2>
    <maxVel>0.0</maxVel>
    <minDepth>0.001</minDepth>
    <!-- <kp>100</kp>
        <kd>1</kd> -->
  </gazebo>
  <!-- bending joint -->
  <joint name="finger_1_segment_joint_6" type="revolute">
    <axis rpy="0 0 0" xyz="0 1 0"/>
    <parent link="finger_1_segment_link_6"/>
    <child link="finger_1_segment_link_7"/>
    <origin rpy="0 0 0" xyz="0.0235 0 0"/>
    <limit effort="1000.0" lower="-1.0" upper="1.0" velocity="1.0"/>
    <dynamics damping="0.01" friction="0.0"/>
  </joint>
  <gazebo reference="finger_1_segment_joint_6">
    <provideFeedback>1</provideFeedback>
    <springReference>0.0</springReference>
    <implicitSpringDamper>1</implicitSpringDamper>
    <springStiffness>3.0</springStiffness>
  </gazebo>
  <!-- set transmission for gazebo ROS controllers-->
  <transmission name="finger_1_segment_tran_6">
    <type>transmission_interface/SimpleTransmission</type>
    <joint name="finger_1_segment_joint_6">
      <hardwareInterface>hardware_interface/EffortJointInterface</hardwareInterface>
    </joint>
    <actuator name="finger_1_segment_motor_6">
      <hardwareInterface>hardware_interface/EffortJointInterface</hardwareInterface>
      <mechanicalReduction>1</mechanicalReduction>
    </actuator>
  </transmission>
  <link name="finger_1_segment_link_8">
    <inertial>
      <mass value="0.006444241316270568"/>
      <inertia ixx="4.21458752285192e-07" ixy="0.00" ixz="0.00" iyy="1.1867124085923218e-06" iyz="0.00" izz="1.6073011882998174e-06"/>
    </inertial>
    <visual>
      <origin rpy="0 0 0" xyz="0.01175 0 0"/>
      <geometry>
        <box size="0.0235 0.028 0.0009"/>
      </geometry>
    </visual>
    <collision>
      <origin rpy="0 0 0" xyz="0.01175 0 0"/>
      <geometry>
        <box size="0.0235 0.028 0.0009"/>
      </geometry>
    </collision>
  </link>
  <gazebo reference="finger_1_segment_link_8">
    <material>Gazebo/Orange</material>
    <mu1>0.1</mu1>
    <mu2>0.1</mu2>
    <maxVel>0.0</maxVel>
    <minDepth>0.001</minDepth>
    <!-- <kp>100</kp>
        <kd>1</kd> -->
  </gazebo>
  <!-- bending joint -->
  <joint name="finger_1_segment_joint_7" type="revolute">
    <axis rpy="0 0 0" xyz="0 1 0"/>
    <parent link="finger_1_segment_link_7"/>
    <child link="finger_1_segment_link_8"/>
    <origin rpy="0 0 0" xyz="0.0235 0 0"/>
    <limit effort="1000.0" lower="-1.0" upper="1.0" velocity="1.0"/>
    <dynamics damping="0.01" friction="0.0"/>
  </joint>
  <gazebo reference="finger_1_segment_joint_7">
    <provideFeedback>1</provideFeedback>
    <springReference>0.0</springReference>
    <implicitSpringDamper>1</implicitSpringDamper>
    <springStiffness>3.0</springStiffness>
  </gazebo>
  <!-- set transmission for gazebo ROS controllers-->
  <transmission name="finger_1_segment_tran_7">
    <type>transmission_interface/SimpleTransmission</type>
    <joint name="finger_1_segment_joint_7">
      <hardwareInterface>hardware_interface/EffortJointInterface</hardwareInterface>
    </joint>
    <actuator name="finger_1_segment_motor_7">
      <hardwareInterface>hardware_interface/EffortJointInterface</hardwareInterface>
      <mechanicalReduction>1</mechanicalReduction>
    </actuator>
  </transmission>
  <link name="finger_1_segment_link_9">
    <inertial>
      <mass value="0.006444241316270568"/>
      <inertia ixx="4.21458752285192e-07" ixy="0.00" ixz="0.00" iyy="1.1867124085923218e-06" iyz="0.00" izz="1.6073011882998174e-06"/>
    </inertial>
    <visual>
      <origin rpy="0 0 0" xyz="0.01175 0 0"/>
      <geometry>
        <box size="0.0235 0.028 0.0009"/>
      </geometry>
    </visual>
    <collision>
      <origin rpy="0 0 0" xyz="0.01175 0 0"/>
      <geometry>
        <box size="0.0235 0.028 0.0009"/>
      </geometry>
    </collision>
  </link>
  <gazebo reference="finger_1_segment_link_9">
    <material>Gazebo/Orange</material>
    <mu1>0.1</mu1>
    <mu2>0.1</mu2>
    <maxVel>0.0</maxVel>
    <minDepth>0.001</minDepth>
    <!-- <kp>100</kp>
        <kd>1</kd> -->
  </gazebo>
  <!-- bending joint -->
  <joint name="finger_1_segment_joint_8" type="revolute">
    <axis rpy="0 0 0" xyz="0 1 0"/>
    <parent link="finger_1_segment_link_8"/>
    <child link="finger_1_segment_link_9"/>
    <origin rpy="0 0 0" xyz="0.0235 0 0"/>
    <limit effort="1000.0" lower="-1.0" upper="1.0" velocity="1.0"/>
    <dynamics damping="0.01" friction="0.0"/>
  </joint>
  <gazebo reference="finger_1_segment_joint_8">
    <provideFeedback>1</provideFeedback>
    <springReference>0.0</springReference>
    <implicitSpringDamper>1</implicitSpringDamper>
    <springStiffness>3.0</springStiffness>
  </gazebo>
  <!-- set transmission for gazebo ROS controllers-->
  <transmission name="finger_1_segment_tran_8">
    <type>transmission_interface/SimpleTransmission</type>
    <joint name="finger_1_segment_joint_8">
      <hardwareInterface>hardware_interface/EffortJointInterface</hardwareInterface>
    </joint>
    <actuator name="finger_1_segment_motor_8">
      <hardwareInterface>hardware_interface/EffortJointInterface</hardwareInterface>
      <mechanicalReduction>1</mechanicalReduction>
    </actuator>
  </transmission>
  <link name="finger_1_segment_link_10">
    <inertial>
      <mass value="0.006444241316270568"/>
      <inertia ixx="4.21458752285192e-07" ixy="0.00" ixz="0.00" iyy="1.1867124085923218e-06" iyz="0.00" izz="1.6073011882998174e-06"/>
    </inertial>
    <visual>
      <origin rpy="0 0 0" xyz="0.01175 0 0"/>
      <geometry>
        <box size="0.0235 0.028 0.0009"/>
      </geometry>
    </visual>
    <collision>
      <origin rpy="0 0 0" xyz="0.01175 0 0"/>
      <geometry>
        <box size="0.0235 0.028 0.0009"/>
      </geometry>
    </collision>
  </link>
  <gazebo reference="finger_1_segment_link_10">
    <material>Gazebo/Orange</material>
    <mu1>0.1</mu1>
    <mu2>0.1</mu2>
    <maxVel>0.0</maxVel>
    <minDepth>0.001</minDepth>
    <!-- <kp>100</kp>
        <kd>1</kd> -->
  </gazebo>
  <!-- bending joint -->
  <joint name="finger_1_segment_joint_9" type="revolute">
    <axis rpy="0 0 0" xyz="0 1 0"/>
    <parent link="finger_1_segment_link_9"/>
    <child link="finger_1_segment_link_10"/>
    <origin rpy="0 0 0" xyz="0.0235 0 0"/>
    <limit effort="1000.0" lower="-1.0" upper="1.0" velocity="1.0"/>
    <dynamics damping="0.01" friction="0.0"/>
  </joint>
  <gazebo reference="finger_1_segment_joint_9">
    <provideFeedback>1</provideFeedback>
    <springReference>0.0</springReference>
    <implicitSpringDamper>1</implicitSpringDamper>
    <springStiffness>3.0</springStiffness>
  </gazebo>
  <!-- set transmission for gazebo ROS controllers-->
  <transmission name="finger_1_segment_tran_9">
    <type>transmission_interface/SimpleTransmission</type>
    <joint name="finger_1_segment_joint_9">
      <hardwareInterface>hardware_interface/EffortJointInterface</hardwareInterface>
    </joint>
    <actuator name="finger_1_segment_motor_9">
      <hardwareInterface>hardware_interface/EffortJointInterface</hardwareInterface>
      <mechanicalReduction>1</mechanicalReduction>
    </actuator>
  </transmission>
  <!-- Add the finger hook link -->
  <link name="finger_1_finger_hook_link">
    <inertial>
      <mass value="0.006444241316270568"/>
      <inertia ixx="4.21458752285192e-07" ixy="0.00" ixz="0.00" iyy="1.1867124085923218e-06" iyz="0.00" izz="1.6073011882998174e-06"/>
    </inertial>
    <visual>
      <origin rpy="0 0 0" xyz="0.01925 0 0"/>
      <geometry>
        <box size="0.0385 0.028 0.0009"/>
      </geometry>
    </visual>
    <collision>
      <origin rpy="0 0 0" xyz="0.01925 0 0"/>
      <geometry>
        <box size="0.0385 0.028 0.0009"/>
      </geometry>
    </collision>
  </link>
  <gazebo reference="finger_1_finger_hook_link">
    <material>Gazebo/Orange</material>
    <mu1>0.1</mu1>
    <mu2>0.1</mu2>
    <maxVel>0.0</maxVel>
    <minDepth>0.001</minDepth>
    <!-- <kp>100</kp>
        <kd>1</kd> -->
  </gazebo>
  <!-- Connect the finger hook via a fixed joint -->
  <joint name="finger_1_finger_hook_joint" type="fixed">
    <parent link="finger_1_segment_link_10"/>
    <child link="finger_1_finger_hook_link"/>
    <origin rpy="0 -1.5707963267948502 0" xyz="0.0235 0 0"/>
  </joint>
  <!-- PARAMETERS TO BE SET BY HAND -->
  <!-- END OF PARAMETERS TO BE SET BY HAND -->
  <link name="finger_2_segment_link_1">
    <inertial>
      <mass value="0.006444241316270568"/>
      <inertia ixx="4.21458752285192e-07" ixy="0.00" ixz="0.00" iyy="1.1867124085923218e-06" iyz="0.00" izz="1.6073011882998174e-06"/>
    </inertial>
    <visual>
      <origin rpy="0 0 0" xyz="0.01175 0 0"/>
      <geometry>
        <box size="0.0235 0.028 0.0009"/>
      </geometry>
    </visual>
    <collision>
      <origin rpy="0 0 0" xyz="0.01175 0 0"/>
      <geometry>
        <box size="0.0235 0.028 0.0009"/>
      </geometry>
    </collision>
  </link>
  <gazebo reference="finger_2_segment_link_1">
    <material>Gazebo/Orange</material>
    <mu1>0.1</mu1>
    <mu2>0.1</mu2>
    <maxVel>0.0</maxVel>
    <minDepth>0.001</minDepth>
    <!-- <kp>100</kp>
        <kd>1</kd> -->
  </gazebo>
  <link name="finger_2_segment_link_2">
    <inertial>
      <mass value="0.006444241316270568"/>
      <inertia ixx="4.21458752285192e-07" ixy="0.00" ixz="0.00" iyy="1.1867124085923218e-06" iyz="0.00" izz="1.6073011882998174e-06"/>
    </inertial>
    <visual>
      <origin rpy="0 0 0" xyz="0.01175 0 0"/>
      <geometry>
        <box size="0.0235 0.028 0.0009"/>
      </geometry>
    </visual>
    <collision>
      <origin rpy="0 0 0" xyz="0.01175 0 0"/>
      <geometry>
        <box size="0.0235 0.028 0.0009"/>
      </geometry>
    </collision>
  </link>
  <gazebo reference="finger_2_segment_link_2">
    <material>Gazebo/Orange</material>
    <mu1>0.1</mu1>
    <mu2>0.1</mu2>
    <maxVel>0.0</maxVel>
    <minDepth>0.001</minDepth>
    <!-- <kp>100</kp>
        <kd>1</kd> -->
  </gazebo>
  <!-- bending joint -->
  <joint name="finger_2_segment_joint_1" type="revolute">
    <axis rpy="0 0 0" xyz="0 1 0"/>
    <parent link="finger_2_segment_link_1"/>
    <child link="finger_2_segment_link_2"/>
    <origin rpy="0 0 0" xyz="0.0235 0 0"/>
    <limit effort="1000.0" lower="-1.0" upper="1.0" velocity="1.0"/>
    <dynamics damping="0.01" friction="0.0"/>
  </joint>
  <gazebo reference="finger_2_segment_joint_1">
    <provideFeedback>1</provideFeedback>
    <springReference>0.0</springReference>
    <implicitSpringDamper>1</implicitSpringDamper>
    <springStiffness>3.0</springStiffness>
  </gazebo>
  <!-- set transmission for gazebo ROS controllers-->
  <transmission name="finger_2_segment_tran_1">
    <type>transmission_interface/SimpleTransmission</type>
    <joint name="finger_2_segment_joint_1">
      <hardwareInterface>hardware_interface/EffortJointInterface</hardwareInterface>
    </joint>
    <actuator name="finger_2_segment_motor_1">
      <hardwareInterface>hardware_interface/EffortJointInterface</hardwareInterface>
      <mechanicalReduction>1</mechanicalReduction>
    </actuator>
  </transmission>
  <link name="finger_2_segment_link_3">
    <inertial>
      <mass value="0.006444241316270568"/>
      <inertia ixx="4.21458752285192e-07" ixy="0.00" ixz="0.00" iyy="1.1867124085923218e-06" iyz="0.00" izz="1.6073011882998174e-06"/>
    </inertial>
    <visual>
      <origin rpy="0 0 0" xyz="0.01175 0 0"/>
      <geometry>
        <box size="0.0235 0.028 0.0009"/>
      </geometry>
    </visual>
    <collision>
      <origin rpy="0 0 0" xyz="0.01175 0 0"/>
      <geometry>
        <box size="0.0235 0.028 0.0009"/>
      </geometry>
    </collision>
  </link>
  <gazebo reference="finger_2_segment_link_3">
    <material>Gazebo/Orange</material>
    <mu1>0.1</mu1>
    <mu2>0.1</mu2>
    <maxVel>0.0</maxVel>
    <minDepth>0.001</minDepth>
    <!-- <kp>100</kp>
        <kd>1</kd> -->
  </gazebo>
  <!-- bending joint -->
  <joint name="finger_2_segment_joint_2" type="revolute">
    <axis rpy="0 0 0" xyz="0 1 0"/>
    <parent link="finger_2_segment_link_2"/>
    <child link="finger_2_segment_link_3"/>
    <origin rpy="0 0 0" xyz="0.0235 0 0"/>
    <limit effort="1000.0" lower="-1.0" upper="1.0" velocity="1.0"/>
    <dynamics damping="0.01" friction="0.0"/>
  </joint>
  <gazebo reference="finger_2_segment_joint_2">
    <provideFeedback>1</provideFeedback>
    <springReference>0.0</springReference>
    <implicitSpringDamper>1</implicitSpringDamper>
    <springStiffness>3.0</springStiffness>
  </gazebo>
  <!-- set transmission for gazebo ROS controllers-->
  <transmission name="finger_2_segment_tran_2">
    <type>transmission_interface/SimpleTransmission</type>
    <joint name="finger_2_segment_joint_2">
      <hardwareInterface>hardware_interface/EffortJointInterface</hardwareInterface>
    </joint>
    <actuator name="finger_2_segment_motor_2">
      <hardwareInterface>hardware_interface/EffortJointInterface</hardwareInterface>
      <mechanicalReduction>1</mechanicalReduction>
    </actuator>
  </transmission>
  <link name="finger_2_segment_link_4">
    <inertial>
      <mass value="0.006444241316270568"/>
      <inertia ixx="4.21458752285192e-07" ixy="0.00" ixz="0.00" iyy="1.1867124085923218e-06" iyz="0.00" izz="1.6073011882998174e-06"/>
    </inertial>
    <visual>
      <origin rpy="0 0 0" xyz="0.01175 0 0"/>
      <geometry>
        <box size="0.0235 0.028 0.0009"/>
      </geometry>
    </visual>
    <collision>
      <origin rpy="0 0 0" xyz="0.01175 0 0"/>
      <geometry>
        <box size="0.0235 0.028 0.0009"/>
      </geometry>
    </collision>
  </link>
  <gazebo reference="finger_2_segment_link_4">
    <material>Gazebo/Orange</material>
    <mu1>0.1</mu1>
    <mu2>0.1</mu2>
    <maxVel>0.0</maxVel>
    <minDepth>0.001</minDepth>
    <!-- <kp>100</kp>
        <kd>1</kd> -->
  </gazebo>
  <!-- bending joint -->
  <joint name="finger_2_segment_joint_3" type="revolute">
    <axis rpy="0 0 0" xyz="0 1 0"/>
    <parent link="finger_2_segment_link_3"/>
    <child link="finger_2_segment_link_4"/>
    <origin rpy="0 0 0" xyz="0.0235 0 0"/>
    <limit effort="1000.0" lower="-1.0" upper="1.0" velocity="1.0"/>
    <dynamics damping="0.01" friction="0.0"/>
  </joint>
  <gazebo reference="finger_2_segment_joint_3">
    <provideFeedback>1</provideFeedback>
    <springReference>0.0</springReference>
    <implicitSpringDamper>1</implicitSpringDamper>
    <springStiffness>3.0</springStiffness>
  </gazebo>
  <!-- set transmission for gazebo ROS controllers-->
  <transmission name="finger_2_segment_tran_3">
    <type>transmission_interface/SimpleTransmission</type>
    <joint name="finger_2_segment_joint_3">
      <hardwareInterface>hardware_interface/EffortJointInterface</hardwareInterface>
    </joint>
    <actuator name="finger_2_segment_motor_3">
      <hardwareInterface>hardware_interface/EffortJointInterface</hardwareInterface>
      <mechanicalReduction>1</mechanicalReduction>
    </actuator>
  </transmission>
  <link name="finger_2_segment_link_5">
    <inertial>
      <mass value="0.006444241316270568"/>
      <inertia ixx="4.21458752285192e-07" ixy="0.00" ixz="0.00" iyy="1.1867124085923218e-06" iyz="0.00" izz="1.6073011882998174e-06"/>
    </inertial>
    <visual>
      <origin rpy="0 0 0" xyz="0.01175 0 0"/>
      <geometry>
        <box size="0.0235 0.028 0.0009"/>
      </geometry>
    </visual>
    <collision>
      <origin rpy="0 0 0" xyz="0.01175 0 0"/>
      <geometry>
        <box size="0.0235 0.028 0.0009"/>
      </geometry>
    </collision>
  </link>
  <gazebo reference="finger_2_segment_link_5">
    <material>Gazebo/Orange</material>
    <mu1>0.1</mu1>
    <mu2>0.1</mu2>
    <maxVel>0.0</maxVel>
    <minDepth>0.001</minDepth>
    <!-- <kp>100</kp>
        <kd>1</kd> -->
  </gazebo>
  <!-- bending joint -->
  <joint name="finger_2_segment_joint_4" type="revolute">
    <axis rpy="0 0 0" xyz="0 1 0"/>
    <parent link="finger_2_segment_link_4"/>
    <child link="finger_2_segment_link_5"/>
    <origin rpy="0 0 0" xyz="0.0235 0 0"/>
    <limit effort="1000.0" lower="-1.0" upper="1.0" velocity="1.0"/>
    <dynamics damping="0.01" friction="0.0"/>
  </joint>
  <gazebo reference="finger_2_segment_joint_4">
    <provideFeedback>1</provideFeedback>
    <springReference>0.0</springReference>
    <implicitSpringDamper>1</implicitSpringDamper>
    <springStiffness>3.0</springStiffness>
  </gazebo>
  <!-- set transmission for gazebo ROS controllers-->
  <transmission name="finger_2_segment_tran_4">
    <type>transmission_interface/SimpleTransmission</type>
    <joint name="finger_2_segment_joint_4">
      <hardwareInterface>hardware_interface/EffortJointInterface</hardwareInterface>
    </joint>
    <actuator name="finger_2_segment_motor_4">
      <hardwareInterface>hardware_interface/EffortJointInterface</hardwareInterface>
      <mechanicalReduction>1</mechanicalReduction>
    </actuator>
  </transmission>
  <link name="finger_2_segment_link_6">
    <inertial>
      <mass value="0.006444241316270568"/>
      <inertia ixx="4.21458752285192e-07" ixy="0.00" ixz="0.00" iyy="1.1867124085923218e-06" iyz="0.00" izz="1.6073011882998174e-06"/>
    </inertial>
    <visual>
      <origin rpy="0 0 0" xyz="0.01175 0 0"/>
      <geometry>
        <box size="0.0235 0.028 0.0009"/>
      </geometry>
    </visual>
    <collision>
      <origin rpy="0 0 0" xyz="0.01175 0 0"/>
      <geometry>
        <box size="0.0235 0.028 0.0009"/>
      </geometry>
    </collision>
  </link>
  <gazebo reference="finger_2_segment_link_6">
    <material>Gazebo/Orange</material>
    <mu1>0.1</mu1>
    <mu2>0.1</mu2>
    <maxVel>0.0</maxVel>
    <minDepth>0.001</minDepth>
    <!-- <kp>100</kp>
        <kd>1</kd> -->
  </gazebo>
  <!-- bending joint -->
  <joint name="finger_2_segment_joint_5" type="revolute">
    <axis rpy="0 0 0" xyz="0 1 0"/>
    <parent link="finger_2_segment_link_5"/>
    <child link="finger_2_segment_link_6"/>
    <origin rpy="0 0 0" xyz="0.0235 0 0"/>
    <limit effort="1000.0" lower="-1.0" upper="1.0" velocity="1.0"/>
    <dynamics damping="0.01" friction="0.0"/>
  </joint>
  <gazebo reference="finger_2_segment_joint_5">
    <provideFeedback>1</provideFeedback>
    <springReference>0.0</springReference>
    <implicitSpringDamper>1</implicitSpringDamper>
    <springStiffness>3.0</springStiffness>
  </gazebo>
  <!-- set transmission for gazebo ROS controllers-->
  <transmission name="finger_2_segment_tran_5">
    <type>transmission_interface/SimpleTransmission</type>
    <joint name="finger_2_segment_joint_5">
      <hardwareInterface>hardware_interface/EffortJointInterface</hardwareInterface>
    </joint>
    <actuator name="finger_2_segment_motor_5">
      <hardwareInterface>hardware_interface/EffortJointInterface</hardwareInterface>
      <mechanicalReduction>1</mechanicalReduction>
    </actuator>
  </transmission>
  <link name="finger_2_segment_link_7">
    <inertial>
      <mass value="0.006444241316270568"/>
      <inertia ixx="4.21458752285192e-07" ixy="0.00" ixz="0.00" iyy="1.1867124085923218e-06" iyz="0.00" izz="1.6073011882998174e-06"/>
    </inertial>
    <visual>
      <origin rpy="0 0 0" xyz="0.01175 0 0"/>
      <geometry>
        <box size="0.0235 0.028 0.0009"/>
      </geometry>
    </visual>
    <collision>
      <origin rpy="0 0 0" xyz="0.01175 0 0"/>
      <geometry>
        <box size="0.0235 0.028 0.0009"/>
      </geometry>
    </collision>
  </link>
  <gazebo reference="finger_2_segment_link_7">
    <material>Gazebo/Orange</material>
    <mu1>0.1</mu1>
    <mu2>0.1</mu2>
    <maxVel>0.0</maxVel>
    <minDepth>0.001</minDepth>
    <!-- <kp>100</kp>
        <kd>1</kd> -->
  </gazebo>
  <!-- bending joint -->
  <joint name="finger_2_segment_joint_6" type="revolute">
    <axis rpy="0 0 0" xyz="0 1 0"/>
    <parent link="finger_2_segment_link_6"/>
    <child link="finger_2_segment_link_7"/>
    <origin rpy="0 0 0" xyz="0.0235 0 0"/>
    <limit effort="1000.0" lower="-1.0" upper="1.0" velocity="1.0"/>
    <dynamics damping="0.01" friction="0.0"/>
  </joint>
  <gazebo reference="finger_2_segment_joint_6">
    <provideFeedback>1</provideFeedback>
    <springReference>0.0</springReference>
    <implicitSpringDamper>1</implicitSpringDamper>
    <springStiffness>3.0</springStiffness>
  </gazebo>
  <!-- set transmission for gazebo ROS controllers-->
  <transmission name="finger_2_segment_tran_6">
    <type>transmission_interface/SimpleTransmission</type>
    <joint name="finger_2_segment_joint_6">
      <hardwareInterface>hardware_interface/EffortJointInterface</hardwareInterface>
    </joint>
    <actuator name="finger_2_segment_motor_6">
      <hardwareInterface>hardware_interface/EffortJointInterface</hardwareInterface>
      <mechanicalReduction>1</mechanicalReduction>
    </actuator>
  </transmission>
  <link name="finger_2_segment_link_8">
    <inertial>
      <mass value="0.006444241316270568"/>
      <inertia ixx="4.21458752285192e-07" ixy="0.00" ixz="0.00" iyy="1.1867124085923218e-06" iyz="0.00" izz="1.6073011882998174e-06"/>
    </inertial>
    <visual>
      <origin rpy="0 0 0" xyz="0.01175 0 0"/>
      <geometry>
        <box size="0.0235 0.028 0.0009"/>
      </geometry>
    </visual>
    <collision>
      <origin rpy="0 0 0" xyz="0.01175 0 0"/>
      <geometry>
        <box size="0.0235 0.028 0.0009"/>
      </geometry>
    </collision>
  </link>
  <gazebo reference="finger_2_segment_link_8">
    <material>Gazebo/Orange</material>
    <mu1>0.1</mu1>
    <mu2>0.1</mu2>
    <maxVel>0.0</maxVel>
    <minDepth>0.001</minDepth>
    <!-- <kp>100</kp>
        <kd>1</kd> -->
  </gazebo>
  <!-- bending joint -->
  <joint name="finger_2_segment_joint_7" type="revolute">
    <axis rpy="0 0 0" xyz="0 1 0"/>
    <parent link="finger_2_segment_link_7"/>
    <child link="finger_2_segment_link_8"/>
    <origin rpy="0 0 0" xyz="0.0235 0 0"/>
    <limit effort="1000.0" lower="-1.0" upper="1.0" velocity="1.0"/>
    <dynamics damping="0.01" friction="0.0"/>
  </joint>
  <gazebo reference="finger_2_segment_joint_7">
    <provideFeedback>1</provideFeedback>
    <springReference>0.0</springReference>
    <implicitSpringDamper>1</implicitSpringDamper>
    <springStiffness>3.0</springStiffness>
  </gazebo>
  <!-- set transmission for gazebo ROS controllers-->
  <transmission name="finger_2_segment_tran_7">
    <type>transmission_interface/SimpleTransmission</type>
    <joint name="finger_2_segment_joint_7">
      <hardwareInterface>hardware_interface/EffortJointInterface</hardwareInterface>
    </joint>
    <actuator name="finger_2_segment_motor_7">
      <hardwareInterface>hardware_interface/EffortJointInterface</hardwareInterface>
      <mechanicalReduction>1</mechanicalReduction>
    </actuator>
  </transmission>
  <link name="finger_2_segment_link_9">
    <inertial>
      <mass value="0.006444241316270568"/>
      <inertia ixx="4.21458752285192e-07" ixy="0.00" ixz="0.00" iyy="1.1867124085923218e-06" iyz="0.00" izz="1.6073011882998174e-06"/>
    </inertial>
    <visual>
      <origin rpy="0 0 0" xyz="0.01175 0 0"/>
      <geometry>
        <box size="0.0235 0.028 0.0009"/>
      </geometry>
    </visual>
    <collision>
      <origin rpy="0 0 0" xyz="0.01175 0 0"/>
      <geometry>
        <box size="0.0235 0.028 0.0009"/>
      </geometry>
    </collision>
  </link>
  <gazebo reference="finger_2_segment_link_9">
    <material>Gazebo/Orange</material>
    <mu1>0.1</mu1>
    <mu2>0.1</mu2>
    <maxVel>0.0</maxVel>
    <minDepth>0.001</minDepth>
    <!-- <kp>100</kp>
        <kd>1</kd> -->
  </gazebo>
  <!-- bending joint -->
  <joint name="finger_2_segment_joint_8" type="revolute">
    <axis rpy="0 0 0" xyz="0 1 0"/>
    <parent link="finger_2_segment_link_8"/>
    <child link="finger_2_segment_link_9"/>
    <origin rpy="0 0 0" xyz="0.0235 0 0"/>
    <limit effort="1000.0" lower="-1.0" upper="1.0" velocity="1.0"/>
    <dynamics damping="0.01" friction="0.0"/>
  </joint>
  <gazebo reference="finger_2_segment_joint_8">
    <provideFeedback>1</provideFeedback>
    <springReference>0.0</springReference>
    <implicitSpringDamper>1</implicitSpringDamper>
    <springStiffness>3.0</springStiffness>
  </gazebo>
  <!-- set transmission for gazebo ROS controllers-->
  <transmission name="finger_2_segment_tran_8">
    <type>transmission_interface/SimpleTransmission</type>
    <joint name="finger_2_segment_joint_8">
      <hardwareInterface>hardware_interface/EffortJointInterface</hardwareInterface>
    </joint>
    <actuator name="finger_2_segment_motor_8">
      <hardwareInterface>hardware_interface/EffortJointInterface</hardwareInterface>
      <mechanicalReduction>1</mechanicalReduction>
    </actuator>
  </transmission>
  <link name="finger_2_segment_link_10">
    <inertial>
      <mass value="0.006444241316270568"/>
      <inertia ixx="4.21458752285192e-07" ixy="0.00" ixz="0.00" iyy="1.1867124085923218e-06" iyz="0.00" izz="1.6073011882998174e-06"/>
    </inertial>
    <visual>
      <origin rpy="0 0 0" xyz="0.01175 0 0"/>
      <geometry>
        <box size="0.0235 0.028 0.0009"/>
      </geometry>
    </visual>
    <collision>
      <origin rpy="0 0 0" xyz="0.01175 0 0"/>
      <geometry>
        <box size="0.0235 0.028 0.0009"/>
      </geometry>
    </collision>
  </link>
  <gazebo reference="finger_2_segment_link_10">
    <material>Gazebo/Orange</material>
    <mu1>0.1</mu1>
    <mu2>0.1</mu2>
    <maxVel>0.0</maxVel>
    <minDepth>0.001</minDepth>
    <!-- <kp>100</kp>
        <kd>1</kd> -->
  </gazebo>
  <!-- bending joint -->
  <joint name="finger_2_segment_joint_9" type="revolute">
    <axis rpy="0 0 0" xyz="0 1 0"/>
    <parent link="finger_2_segment_link_9"/>
    <child link="finger_2_segment_link_10"/>
    <origin rpy="0 0 0" xyz="0.0235 0 0"/>
    <limit effort="1000.0" lower="-1.0" upper="1.0" velocity="1.0"/>
    <dynamics damping="0.01" friction="0.0"/>
  </joint>
  <gazebo reference="finger_2_segment_joint_9">
    <provideFeedback>1</provideFeedback>
    <springReference>0.0</springReference>
    <implicitSpringDamper>1</implicitSpringDamper>
    <springStiffness>3.0</springStiffness>
  </gazebo>
  <!-- set transmission for gazebo ROS controllers-->
  <transmission name="finger_2_segment_tran_9">
    <type>transmission_interface/SimpleTransmission</type>
    <joint name="finger_2_segment_joint_9">
      <hardwareInterface>hardware_interface/EffortJointInterface</hardwareInterface>
    </joint>
    <actuator name="finger_2_segment_motor_9">
      <hardwareInterface>hardware_interface/EffortJointInterface</hardwareInterface>
      <mechanicalReduction>1</mechanicalReduction>
    </actuator>
  </transmission>
  <!-- Add the finger hook link -->
  <link name="finger_2_finger_hook_link">
    <inertial>
      <mass value="0.006444241316270568"/>
      <inertia ixx="4.21458752285192e-07" ixy="0.00" ixz="0.00" iyy="1.1867124085923218e-06" iyz="0.00" izz="1.6073011882998174e-06"/>
    </inertial>
    <visual>
      <origin rpy="0 0 0" xyz="0.01925 0 0"/>
      <geometry>
        <box size="0.0385 0.028 0.0009"/>
      </geometry>
    </visual>
    <collision>
      <origin rpy="0 0 0" xyz="0.01925 0 0"/>
      <geometry>
        <box size="0.0385 0.028 0.0009"/>
      </geometry>
    </collision>
  </link>
  <gazebo reference="finger_2_finger_hook_link">
    <material>Gazebo/Orange</material>
    <mu1>0.1</mu1>
    <mu2>0.1</mu2>
    <maxVel>0.0</maxVel>
    <minDepth>0.001</minDepth>
    <!-- <kp>100</kp>
        <kd>1</kd> -->
  </gazebo>
  <!-- Connect the finger hook via a fixed joint -->
  <joint name="finger_2_finger_hook_joint" type="fixed">
    <parent link="finger_2_segment_link_10"/>
    <child link="finger_2_finger_hook_link"/>
    <origin rpy="0 -1.5707963267948502 0" xyz="0.0235 0 0"/>
  </joint>
  <!-- PARAMETERS TO BE SET BY HAND -->
  <!-- END OF PARAMETERS TO BE SET BY HAND -->
  <link name="finger_3_segment_link_1">
    <inertial>
      <mass value="0.006444241316270568"/>
      <inertia ixx="4.21458752285192e-07" ixy="0.00" ixz="0.00" iyy="1.1867124085923218e-06" iyz="0.00" izz="1.6073011882998174e-06"/>
    </inertial>
    <visual>
      <origin rpy="0 0 0" xyz="0.01175 0 0"/>
      <geometry>
        <box size="0.0235 0.028 0.0009"/>
      </geometry>
    </visual>
    <collision>
      <origin rpy="0 0 0" xyz="0.01175 0 0"/>
      <geometry>
        <box size="0.0235 0.028 0.0009"/>
      </geometry>
    </collision>
  </link>
  <gazebo reference="finger_3_segment_link_1">
    <material>Gazebo/Orange</material>
    <mu1>0.1</mu1>
    <mu2>0.1</mu2>
    <maxVel>0.0</maxVel>
    <minDepth>0.001</minDepth>
    <!-- <kp>100</kp>
        <kd>1</kd> -->
  </gazebo>
  <link name="finger_3_segment_link_2">
    <inertial>
      <mass value="0.006444241316270568"/>
      <inertia ixx="4.21458752285192e-07" ixy="0.00" ixz="0.00" iyy="1.1867124085923218e-06" iyz="0.00" izz="1.6073011882998174e-06"/>
    </inertial>
    <visual>
      <origin rpy="0 0 0" xyz="0.01175 0 0"/>
      <geometry>
        <box size="0.0235 0.028 0.0009"/>
      </geometry>
    </visual>
    <collision>
      <origin rpy="0 0 0" xyz="0.01175 0 0"/>
      <geometry>
        <box size="0.0235 0.028 0.0009"/>
      </geometry>
    </collision>
  </link>
  <gazebo reference="finger_3_segment_link_2">
    <material>Gazebo/Orange</material>
    <mu1>0.1</mu1>
    <mu2>0.1</mu2>
    <maxVel>0.0</maxVel>
    <minDepth>0.001</minDepth>
    <!-- <kp>100</kp>
        <kd>1</kd> -->
  </gazebo>
  <!-- bending joint -->
  <joint name="finger_3_segment_joint_1" type="revolute">
    <axis rpy="0 0 0" xyz="0 1 0"/>
    <parent link="finger_3_segment_link_1"/>
    <child link="finger_3_segment_link_2"/>
    <origin rpy="0 0 0" xyz="0.0235 0 0"/>
    <limit effort="1000.0" lower="-1.0" upper="1.0" velocity="1.0"/>
    <dynamics damping="0.01" friction="0.0"/>
  </joint>
  <gazebo reference="finger_3_segment_joint_1">
    <provideFeedback>1</provideFeedback>
    <springReference>0.0</springReference>
    <implicitSpringDamper>1</implicitSpringDamper>
    <springStiffness>3.0</springStiffness>
  </gazebo>
  <!-- set transmission for gazebo ROS controllers-->
  <transmission name="finger_3_segment_tran_1">
    <type>transmission_interface/SimpleTransmission</type>
    <joint name="finger_3_segment_joint_1">
      <hardwareInterface>hardware_interface/EffortJointInterface</hardwareInterface>
    </joint>
    <actuator name="finger_3_segment_motor_1">
      <hardwareInterface>hardware_interface/EffortJointInterface</hardwareInterface>
      <mechanicalReduction>1</mechanicalReduction>
    </actuator>
  </transmission>
  <link name="finger_3_segment_link_3">
    <inertial>
      <mass value="0.006444241316270568"/>
      <inertia ixx="4.21458752285192e-07" ixy="0.00" ixz="0.00" iyy="1.1867124085923218e-06" iyz="0.00" izz="1.6073011882998174e-06"/>
    </inertial>
    <visual>
      <origin rpy="0 0 0" xyz="0.01175 0 0"/>
      <geometry>
        <box size="0.0235 0.028 0.0009"/>
      </geometry>
    </visual>
    <collision>
      <origin rpy="0 0 0" xyz="0.01175 0 0"/>
      <geometry>
        <box size="0.0235 0.028 0.0009"/>
      </geometry>
    </collision>
  </link>
  <gazebo reference="finger_3_segment_link_3">
    <material>Gazebo/Orange</material>
    <mu1>0.1</mu1>
    <mu2>0.1</mu2>
    <maxVel>0.0</maxVel>
    <minDepth>0.001</minDepth>
    <!-- <kp>100</kp>
        <kd>1</kd> -->
  </gazebo>
  <!-- bending joint -->
  <joint name="finger_3_segment_joint_2" type="revolute">
    <axis rpy="0 0 0" xyz="0 1 0"/>
    <parent link="finger_3_segment_link_2"/>
    <child link="finger_3_segment_link_3"/>
    <origin rpy="0 0 0" xyz="0.0235 0 0"/>
    <limit effort="1000.0" lower="-1.0" upper="1.0" velocity="1.0"/>
    <dynamics damping="0.01" friction="0.0"/>
  </joint>
  <gazebo reference="finger_3_segment_joint_2">
    <provideFeedback>1</provideFeedback>
    <springReference>0.0</springReference>
    <implicitSpringDamper>1</implicitSpringDamper>
    <springStiffness>3.0</springStiffness>
  </gazebo>
  <!-- set transmission for gazebo ROS controllers-->
  <transmission name="finger_3_segment_tran_2">
    <type>transmission_interface/SimpleTransmission</type>
    <joint name="finger_3_segment_joint_2">
      <hardwareInterface>hardware_interface/EffortJointInterface</hardwareInterface>
    </joint>
    <actuator name="finger_3_segment_motor_2">
      <hardwareInterface>hardware_interface/EffortJointInterface</hardwareInterface>
      <mechanicalReduction>1</mechanicalReduction>
    </actuator>
  </transmission>
  <link name="finger_3_segment_link_4">
    <inertial>
      <mass value="0.006444241316270568"/>
      <inertia ixx="4.21458752285192e-07" ixy="0.00" ixz="0.00" iyy="1.1867124085923218e-06" iyz="0.00" izz="1.6073011882998174e-06"/>
    </inertial>
    <visual>
      <origin rpy="0 0 0" xyz="0.01175 0 0"/>
      <geometry>
        <box size="0.0235 0.028 0.0009"/>
      </geometry>
    </visual>
    <collision>
      <origin rpy="0 0 0" xyz="0.01175 0 0"/>
      <geometry>
        <box size="0.0235 0.028 0.0009"/>
      </geometry>
    </collision>
  </link>
  <gazebo reference="finger_3_segment_link_4">
    <material>Gazebo/Orange</material>
    <mu1>0.1</mu1>
    <mu2>0.1</mu2>
    <maxVel>0.0</maxVel>
    <minDepth>0.001</minDepth>
    <!-- <kp>100</kp>
        <kd>1</kd> -->
  </gazebo>
  <!-- bending joint -->
  <joint name="finger_3_segment_joint_3" type="revolute">
    <axis rpy="0 0 0" xyz="0 1 0"/>
    <parent link="finger_3_segment_link_3"/>
    <child link="finger_3_segment_link_4"/>
    <origin rpy="0 0 0" xyz="0.0235 0 0"/>
    <limit effort="1000.0" lower="-1.0" upper="1.0" velocity="1.0"/>
    <dynamics damping="0.01" friction="0.0"/>
  </joint>
  <gazebo reference="finger_3_segment_joint_3">
    <provideFeedback>1</provideFeedback>
    <springReference>0.0</springReference>
    <implicitSpringDamper>1</implicitSpringDamper>
    <springStiffness>3.0</springStiffness>
  </gazebo>
  <!-- set transmission for gazebo ROS controllers-->
  <transmission name="finger_3_segment_tran_3">
    <type>transmission_interface/SimpleTransmission</type>
    <joint name="finger_3_segment_joint_3">
      <hardwareInterface>hardware_interface/EffortJointInterface</hardwareInterface>
    </joint>
    <actuator name="finger_3_segment_motor_3">
      <hardwareInterface>hardware_interface/EffortJointInterface</hardwareInterface>
      <mechanicalReduction>1</mechanicalReduction>
    </actuator>
  </transmission>
  <link name="finger_3_segment_link_5">
    <inertial>
      <mass value="0.006444241316270568"/>
      <inertia ixx="4.21458752285192e-07" ixy="0.00" ixz="0.00" iyy="1.1867124085923218e-06" iyz="0.00" izz="1.6073011882998174e-06"/>
    </inertial>
    <visual>
      <origin rpy="0 0 0" xyz="0.01175 0 0"/>
      <geometry>
        <box size="0.0235 0.028 0.0009"/>
      </geometry>
    </visual>
    <collision>
      <origin rpy="0 0 0" xyz="0.01175 0 0"/>
      <geometry>
        <box size="0.0235 0.028 0.0009"/>
      </geometry>
    </collision>
  </link>
  <gazebo reference="finger_3_segment_link_5">
    <material>Gazebo/Orange</material>
    <mu1>0.1</mu1>
    <mu2>0.1</mu2>
    <maxVel>0.0</maxVel>
    <minDepth>0.001</minDepth>
    <!-- <kp>100</kp>
        <kd>1</kd> -->
  </gazebo>
  <!-- bending joint -->
  <joint name="finger_3_segment_joint_4" type="revolute">
    <axis rpy="0 0 0" xyz="0 1 0"/>
    <parent link="finger_3_segment_link_4"/>
    <child link="finger_3_segment_link_5"/>
    <origin rpy="0 0 0" xyz="0.0235 0 0"/>
    <limit effort="1000.0" lower="-1.0" upper="1.0" velocity="1.0"/>
    <dynamics damping="0.01" friction="0.0"/>
  </joint>
  <gazebo reference="finger_3_segment_joint_4">
    <provideFeedback>1</provideFeedback>
    <springReference>0.0</springReference>
    <implicitSpringDamper>1</implicitSpringDamper>
    <springStiffness>3.0</springStiffness>
  </gazebo>
  <!-- set transmission for gazebo ROS controllers-->
  <transmission name="finger_3_segment_tran_4">
    <type>transmission_interface/SimpleTransmission</type>
    <joint name="finger_3_segment_joint_4">
      <hardwareInterface>hardware_interface/EffortJointInterface</hardwareInterface>
    </joint>
    <actuator name="finger_3_segment_motor_4">
      <hardwareInterface>hardware_interface/EffortJointInterface</hardwareInterface>
      <mechanicalReduction>1</mechanicalReduction>
    </actuator>
  </transmission>
  <link name="finger_3_segment_link_6">
    <inertial>
      <mass value="0.006444241316270568"/>
      <inertia ixx="4.21458752285192e-07" ixy="0.00" ixz="0.00" iyy="1.1867124085923218e-06" iyz="0.00" izz="1.6073011882998174e-06"/>
    </inertial>
    <visual>
      <origin rpy="0 0 0" xyz="0.01175 0 0"/>
      <geometry>
        <box size="0.0235 0.028 0.0009"/>
      </geometry>
    </visual>
    <collision>
      <origin rpy="0 0 0" xyz="0.01175 0 0"/>
      <geometry>
        <box size="0.0235 0.028 0.0009"/>
      </geometry>
    </collision>
  </link>
  <gazebo reference="finger_3_segment_link_6">
    <material>Gazebo/Orange</material>
    <mu1>0.1</mu1>
    <mu2>0.1</mu2>
    <maxVel>0.0</maxVel>
    <minDepth>0.001</minDepth>
    <!-- <kp>100</kp>
        <kd>1</kd> -->
  </gazebo>
  <!-- bending joint -->
  <joint name="finger_3_segment_joint_5" type="revolute">
    <axis rpy="0 0 0" xyz="0 1 0"/>
    <parent link="finger_3_segment_link_5"/>
    <child link="finger_3_segment_link_6"/>
    <origin rpy="0 0 0" xyz="0.0235 0 0"/>
    <limit effort="1000.0" lower="-1.0" upper="1.0" velocity="1.0"/>
    <dynamics damping="0.01" friction="0.0"/>
  </joint>
  <gazebo reference="finger_3_segment_joint_5">
    <provideFeedback>1</provideFeedback>
    <springReference>0.0</springReference>
    <implicitSpringDamper>1</implicitSpringDamper>
    <springStiffness>3.0</springStiffness>
  </gazebo>
  <!-- set transmission for gazebo ROS controllers-->
  <transmission name="finger_3_segment_tran_5">
    <type>transmission_interface/SimpleTransmission</type>
    <joint name="finger_3_segment_joint_5">
      <hardwareInterface>hardware_interface/EffortJointInterface</hardwareInterface>
    </joint>
    <actuator name="finger_3_segment_motor_5">
      <hardwareInterface>hardware_interface/EffortJointInterface</hardwareInterface>
      <mechanicalReduction>1</mechanicalReduction>
    </actuator>
  </transmission>
  <link name="finger_3_segment_link_7">
    <inertial>
      <mass value="0.006444241316270568"/>
      <inertia ixx="4.21458752285192e-07" ixy="0.00" ixz="0.00" iyy="1.1867124085923218e-06" iyz="0.00" izz="1.6073011882998174e-06"/>
    </inertial>
    <visual>
      <origin rpy="0 0 0" xyz="0.01175 0 0"/>
      <geometry>
        <box size="0.0235 0.028 0.0009"/>
      </geometry>
    </visual>
    <collision>
      <origin rpy="0 0 0" xyz="0.01175 0 0"/>
      <geometry>
        <box size="0.0235 0.028 0.0009"/>
      </geometry>
    </collision>
  </link>
  <gazebo reference="finger_3_segment_link_7">
    <material>Gazebo/Orange</material>
    <mu1>0.1</mu1>
    <mu2>0.1</mu2>
    <maxVel>0.0</maxVel>
    <minDepth>0.001</minDepth>
    <!-- <kp>100</kp>
        <kd>1</kd> -->
  </gazebo>
  <!-- bending joint -->
  <joint name="finger_3_segment_joint_6" type="revolute">
    <axis rpy="0 0 0" xyz="0 1 0"/>
    <parent link="finger_3_segment_link_6"/>
    <child link="finger_3_segment_link_7"/>
    <origin rpy="0 0 0" xyz="0.0235 0 0"/>
    <limit effort="1000.0" lower="-1.0" upper="1.0" velocity="1.0"/>
    <dynamics damping="0.01" friction="0.0"/>
  </joint>
  <gazebo reference="finger_3_segment_joint_6">
    <provideFeedback>1</provideFeedback>
    <springReference>0.0</springReference>
    <implicitSpringDamper>1</implicitSpringDamper>
    <springStiffness>3.0</springStiffness>
  </gazebo>
  <!-- set transmission for gazebo ROS controllers-->
  <transmission name="finger_3_segment_tran_6">
    <type>transmission_interface/SimpleTransmission</type>
    <joint name="finger_3_segment_joint_6">
      <hardwareInterface>hardware_interface/EffortJointInterface</hardwareInterface>
    </joint>
    <actuator name="finger_3_segment_motor_6">
      <hardwareInterface>hardware_interface/EffortJointInterface</hardwareInterface>
      <mechanicalReduction>1</mechanicalReduction>
    </actuator>
  </transmission>
  <link name="finger_3_segment_link_8">
    <inertial>
      <mass value="0.006444241316270568"/>
      <inertia ixx="4.21458752285192e-07" ixy="0.00" ixz="0.00" iyy="1.1867124085923218e-06" iyz="0.00" izz="1.6073011882998174e-06"/>
    </inertial>
    <visual>
      <origin rpy="0 0 0" xyz="0.01175 0 0"/>
      <geometry>
        <box size="0.0235 0.028 0.0009"/>
      </geometry>
    </visual>
    <collision>
      <origin rpy="0 0 0" xyz="0.01175 0 0"/>
      <geometry>
        <box size="0.0235 0.028 0.0009"/>
      </geometry>
    </collision>
  </link>
  <gazebo reference="finger_3_segment_link_8">
    <material>Gazebo/Orange</material>
    <mu1>0.1</mu1>
    <mu2>0.1</mu2>
    <maxVel>0.0</maxVel>
    <minDepth>0.001</minDepth>
    <!-- <kp>100</kp>
        <kd>1</kd> -->
  </gazebo>
  <!-- bending joint -->
  <joint name="finger_3_segment_joint_7" type="revolute">
    <axis rpy="0 0 0" xyz="0 1 0"/>
    <parent link="finger_3_segment_link_7"/>
    <child link="finger_3_segment_link_8"/>
    <origin rpy="0 0 0" xyz="0.0235 0 0"/>
    <limit effort="1000.0" lower="-1.0" upper="1.0" velocity="1.0"/>
    <dynamics damping="0.01" friction="0.0"/>
  </joint>
  <gazebo reference="finger_3_segment_joint_7">
    <provideFeedback>1</provideFeedback>
    <springReference>0.0</springReference>
    <implicitSpringDamper>1</implicitSpringDamper>
    <springStiffness>3.0</springStiffness>
  </gazebo>
  <!-- set transmission for gazebo ROS controllers-->
  <transmission name="finger_3_segment_tran_7">
    <type>transmission_interface/SimpleTransmission</type>
    <joint name="finger_3_segment_joint_7">
      <hardwareInterface>hardware_interface/EffortJointInterface</hardwareInterface>
    </joint>
    <actuator name="finger_3_segment_motor_7">
      <hardwareInterface>hardware_interface/EffortJointInterface</hardwareInterface>
      <mechanicalReduction>1</mechanicalReduction>
    </actuator>
  </transmission>
  <link name="finger_3_segment_link_9">
    <inertial>
      <mass value="0.006444241316270568"/>
      <inertia ixx="4.21458752285192e-07" ixy="0.00" ixz="0.00" iyy="1.1867124085923218e-06" iyz="0.00" izz="1.6073011882998174e-06"/>
    </inertial>
    <visual>
      <origin rpy="0 0 0" xyz="0.01175 0 0"/>
      <geometry>
        <box size="0.0235 0.028 0.0009"/>
      </geometry>
    </visual>
    <collision>
      <origin rpy="0 0 0" xyz="0.01175 0 0"/>
      <geometry>
        <box size="0.0235 0.028 0.0009"/>
      </geometry>
    </collision>
  </link>
  <gazebo reference="finger_3_segment_link_9">
    <material>Gazebo/Orange</material>
    <mu1>0.1</mu1>
    <mu2>0.1</mu2>
    <maxVel>0.0</maxVel>
    <minDepth>0.001</minDepth>
    <!-- <kp>100</kp>
        <kd>1</kd> -->
  </gazebo>
  <!-- bending joint -->
  <joint name="finger_3_segment_joint_8" type="revolute">
    <axis rpy="0 0 0" xyz="0 1 0"/>
    <parent link="finger_3_segment_link_8"/>
    <child link="finger_3_segment_link_9"/>
    <origin rpy="0 0 0" xyz="0.0235 0 0"/>
    <limit effort="1000.0" lower="-1.0" upper="1.0" velocity="1.0"/>
    <dynamics damping="0.01" friction="0.0"/>
  </joint>
  <gazebo reference="finger_3_segment_joint_8">
    <provideFeedback>1</provideFeedback>
    <springReference>0.0</springReference>
    <implicitSpringDamper>1</implicitSpringDamper>
    <springStiffness>3.0</springStiffness>
  </gazebo>
  <!-- set transmission for gazebo ROS controllers-->
  <transmission name="finger_3_segment_tran_8">
    <type>transmission_interface/SimpleTransmission</type>
    <joint name="finger_3_segment_joint_8">
      <hardwareInterface>hardware_interface/EffortJointInterface</hardwareInterface>
    </joint>
    <actuator name="finger_3_segment_motor_8">
      <hardwareInterface>hardware_interface/EffortJointInterface</hardwareInterface>
      <mechanicalReduction>1</mechanicalReduction>
    </actuator>
  </transmission>
  <link name="finger_3_segment_link_10">
    <inertial>
      <mass value="0.006444241316270568"/>
      <inertia ixx="4.21458752285192e-07" ixy="0.00" ixz="0.00" iyy="1.1867124085923218e-06" iyz="0.00" izz="1.6073011882998174e-06"/>
    </inertial>
    <visual>
      <origin rpy="0 0 0" xyz="0.01175 0 0"/>
      <geometry>
        <box size="0.0235 0.028 0.0009"/>
      </geometry>
    </visual>
    <collision>
      <origin rpy="0 0 0" xyz="0.01175 0 0"/>
      <geometry>
        <box size="0.0235 0.028 0.0009"/>
      </geometry>
    </collision>
  </link>
  <gazebo reference="finger_3_segment_link_10">
    <material>Gazebo/Orange</material>
    <mu1>0.1</mu1>
    <mu2>0.1</mu2>
    <maxVel>0.0</maxVel>
    <minDepth>0.001</minDepth>
    <!-- <kp>100</kp>
        <kd>1</kd> -->
  </gazebo>
  <!-- bending joint -->
  <joint name="finger_3_segment_joint_9" type="revolute">
    <axis rpy="0 0 0" xyz="0 1 0"/>
    <parent link="finger_3_segment_link_9"/>
    <child link="finger_3_segment_link_10"/>
    <origin rpy="0 0 0" xyz="0.0235 0 0"/>
    <limit effort="1000.0" lower="-1.0" upper="1.0" velocity="1.0"/>
    <dynamics damping="0.01" friction="0.0"/>
  </joint>
  <gazebo reference="finger_3_segment_joint_9">
    <provideFeedback>1</provideFeedback>
    <springReference>0.0</springReference>
    <implicitSpringDamper>1</implicitSpringDamper>
    <springStiffness>3.0</springStiffness>
  </gazebo>
  <!-- set transmission for gazebo ROS controllers-->
  <transmission name="finger_3_segment_tran_9">
    <type>transmission_interface/SimpleTransmission</type>
    <joint name="finger_3_segment_joint_9">
      <hardwareInterface>hardware_interface/EffortJointInterface</hardwareInterface>
    </joint>
    <actuator name="finger_3_segment_motor_9">
      <hardwareInterface>hardware_interface/EffortJointInterface</hardwareInterface>
      <mechanicalReduction>1</mechanicalReduction>
    </actuator>
  </transmission>
  <!-- Add the finger hook link -->
  <link name="finger_3_finger_hook_link">
    <inertial>
      <mass value="0.006444241316270568"/>
      <inertia ixx="4.21458752285192e-07" ixy="0.00" ixz="0.00" iyy="1.1867124085923218e-06" iyz="0.00" izz="1.6073011882998174e-06"/>
    </inertial>
    <visual>
      <origin rpy="0 0 0" xyz="0.01925 0 0"/>
      <geometry>
        <box size="0.0385 0.028 0.0009"/>
      </geometry>
    </visual>
    <collision>
      <origin rpy="0 0 0" xyz="0.01925 0 0"/>
      <geometry>
        <box size="0.0385 0.028 0.0009"/>
      </geometry>
    </collision>
  </link>
  <gazebo reference="finger_3_finger_hook_link">
    <material>Gazebo/Orange</material>
    <mu1>0.1</mu1>
    <mu2>0.1</mu2>
    <maxVel>0.0</maxVel>
    <minDepth>0.001</minDepth>
    <!-- <kp>100</kp>
        <kd>1</kd> -->
  </gazebo>
  <!-- Connect the finger hook via a fixed joint -->
  <joint name="finger_3_finger_hook_joint" type="fixed">
    <parent link="finger_3_segment_link_10"/>
    <child link="finger_3_finger_hook_link"/>
    <origin rpy="0 -1.5707963267948502 0" xyz="0.0235 0 0"/>
  </joint>
  <gazebo>
    <plugin filename="libfinger_controller_plugin.so" name="finger_controller_plugin"/>
  </gazebo>
  <!-- attach them to the gripper -->
  <joint name="to_segmented_finger_1" type="fixed">
    <origin rpy="1.5707963267948966 0 0" xyz="0.129 -0.007 0"/>
    <parent link="finger_1"/>
    <child link="finger_1_segment_link_1"/>
  </joint>
  <joint name="to_segmented_finger_2" type="fixed">
    <origin rpy="1.5707963267948966 0 0" xyz="0.129 -0.007 0"/>
    <parent link="finger_2"/>
    <child link="finger_2_segment_link_1"/>
  </joint>
  <joint name="to_segmented_finger_3" type="fixed">
    <origin rpy="1.5707963267948966 0 0" xyz="0.129 -0.007 0"/>
    <parent link="finger_3"/>
    <child link="finger_3_segment_link_1"/>
  </joint>
  <!-- connect the panda to the ground -->
  <link name="world"/>
  <joint name="world_to_base" type="fixed">
    <origin rpy="0 0 0" xyz="0 0 0"/>
    <parent link="world"/>
    <child link="panda_link0"/>
  </joint>
  <!-- connect the gripper to the panda -->
  <!-- TODO verify these values -->
  <joint name="panda_to_eef_base_joint" type="fixed">
    <origin rpy="0 0 -0.7853981633974483" xyz="0 0 0.25"/>
    <parent link="panda_link7"/>
    <child link="gripper_base_link"/>
  </joint>
  <gazebo>
    <plugin filename="libreset_joints_plugin.so" name="reset_joints_plugin"/>
  </gazebo>
</robot>
